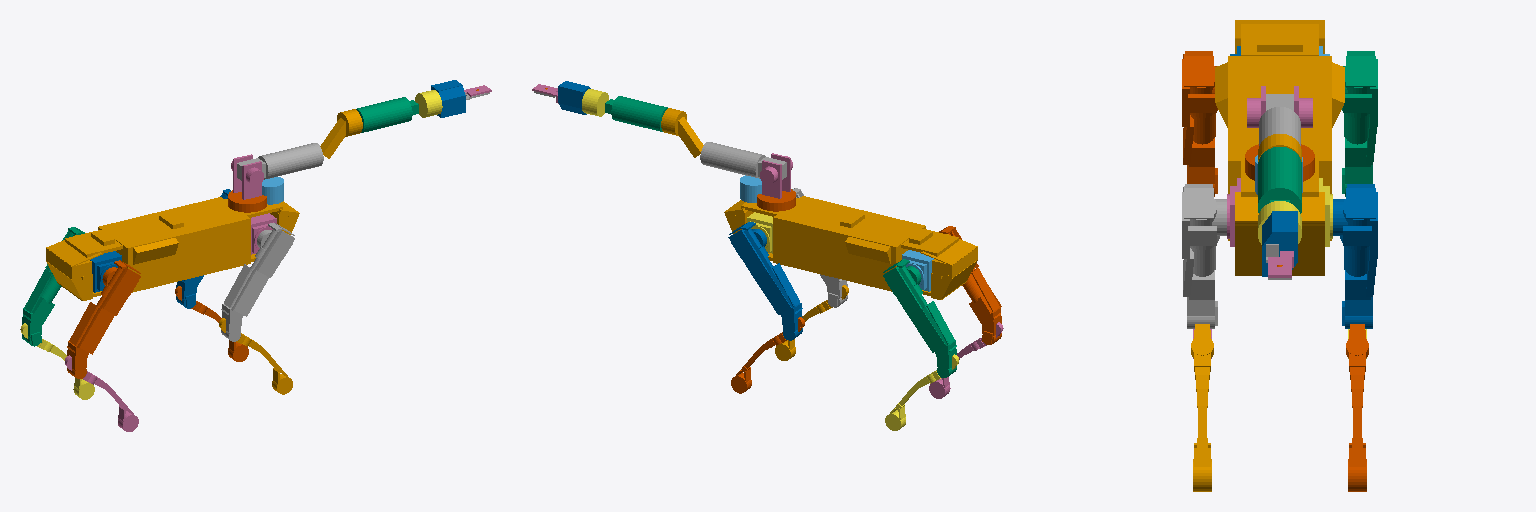
--- Facts derived from the render (not from the file) ---
The picture shows the robot from 3 angles, left to right: view 1: azimuth 30°, elevation 25°; view 2: azimuth 150°, elevation 25°; view 3: azimuth 270°, elevation 25°; orthographic projection.
Robot: Spot — 78 links, 77 joints (18 revolute, 4 continuous, 3 prismatic, 52 fixed); root link base_link; default pose: every joint at zero.
Visible links, largest first — view 1: base_link, front right upperarm, rear right upperarm, rear left upperarm, spotarm_link2, spotarm_link5, spotarm_link1, spotarm_link3, front, front right forearm, rear right forearm, rear left forearm (+5 smaller); view 2: base_link, front left upperarm, rear left upperarm, rear right upperarm, spotarm_link2, spotarm_link5, spotarm_link1, spotarm_link3, rear left forearm, front left forearm, front, rear right forearm (+5 smaller); view 3: base_link, front right upperarm, front left upperarm, rear right upperarm, rear left upperarm, front right forearm, front left forearm, spotarm_link5, spotarm_link2, front, spotarm_link1, SpotArm (+3 smaller).
Link boxes in pixels (left/top/right/bottom): base_link: left=46, top=197, right=299, bottom=300; front right upperarm: left=221, top=223, right=294, bottom=341; rear right upperarm: left=67, top=260, right=140, bottom=378; rear left upperarm: left=22, top=227, right=84, bottom=346; spotarm_link2: left=237, top=143, right=323, bottom=180; spotarm_link5: left=356, top=97, right=418, bottom=132; spotarm_link1: left=231, top=154, right=263, bottom=199; spotarm_link3: left=320, top=109, right=362, bottom=158; front: left=431, top=80, right=465, bottom=117; front right forearm: left=219, top=318, right=292, bottom=394; rear right forearm: left=65, top=355, right=138, bottom=431; rear left forearm: left=20, top=323, right=94, bottom=399; base_link: left=724, top=196, right=977, bottom=299; front left upperarm: left=728, top=222, right=802, bottom=340; rear left upperarm: left=883, top=259, right=956, bottom=377; rear right upperarm: left=939, top=226, right=1001, bottom=344; spotarm_link2: left=700, top=142, right=786, bottom=179; spotarm_link5: left=605, top=96, right=667, bottom=131; spotarm_link1: left=760, top=153, right=792, bottom=198; spotarm_link3: left=661, top=108, right=703, bottom=157; rear left forearm: left=885, top=354, right=958, bottom=430; front left forearm: left=731, top=317, right=804, bottom=393; front: left=558, top=81, right=590, bottom=114; rear right forearm: left=929, top=322, right=1003, bottom=398; base_link: left=1215, top=20, right=1344, bottom=275; front right upperarm: left=1182, top=184, right=1226, bottom=328; front left upperarm: left=1333, top=184, right=1377, bottom=328; rear right upperarm: left=1182, top=51, right=1217, bottom=196; rear left upperarm: left=1342, top=51, right=1377, bottom=196; front right forearm: left=1191, top=324, right=1213, bottom=491; front left forearm: left=1346, top=324, right=1368, bottom=491; spotarm_link5: left=1258, top=147, right=1301, bottom=213; spotarm_link2: left=1259, top=94, right=1300, bottom=145; front: left=1262, top=211, right=1297, bottom=276; spotarm_link1: left=1247, top=86, right=1312, bottom=127; SpotArm: left=1245, top=144, right=1314, bottom=181.
Size in the robot's own frame: 1.94 by 0.42 by 1.02 metres.
Geometry: primitives only (box / cylinder / sphere), no mesh files.

The robot description file, URDF, robot "Spot":
<?xml version="1.0"?>
<robot name="Spot" xmlns:xacro="http://ros.org/wiki/xacro">
  <link name="base_link">
    <visual>
      <origin xyz="0.462094 0 -0.000232" rpy="1.127615 -0.00001 -1.570793"/>
      <geometry>
        <box size="0.192453 0.177358 0.043396"/>
      </geometry>
    </visual>
    <collision>
      <origin xyz="0.462094 0 -0.000232" rpy="1.127615 -0.00001 -1.570793"/>
      <geometry>
        <box size="0.192453 0.177358 0.043396"/>
      </geometry>
    </collision>
    <visual>
      <origin xyz="0.477932 0 0.084013" rpy="1.217205 -0.000011 -1.570792"/>
      <geometry>
        <box size="0.192453 0.018113 0.08717"/>
      </geometry>
    </visual>
    <collision>
      <origin xyz="0.477932 0 0.084013" rpy="1.217205 -0.000011 -1.570792"/>
      <geometry>
        <box size="0.192453 0.018113 0.08717"/>
      </geometry>
    </collision>
    <visual>
      <origin xyz="0.451833 0 0.041304" rpy="0 0 0"/>
      <geometry>
        <box size="0.037736 0.192453 0.102642"/>
      </geometry>
    </visual>
    <collision>
      <origin xyz="0.451833 0 0.041304" rpy="0 0 0"/>
      <geometry>
        <box size="0.037736 0.192453 0.102642"/>
      </geometry>
    </collision>
    <visual>
      <origin xyz="0.031113 0 0.018833" rpy="0 0 0"/>
      <geometry>
        <box size="0.535849 0.222642 0.189434"/>
      </geometry>
    </visual>
    <collision>
      <origin xyz="0.031113 0 0.018833" rpy="0 0 0"/>
      <geometry>
        <box size="0.535849 0.222642 0.189434"/>
      </geometry>
    </collision>
    <visual>
      <origin xyz="0.376019 0 0.107135" rpy="0 0 0"/>
      <geometry>
        <box size="0.158491 0.166038 0.013208"/>
      </geometry>
    </visual>
    <collision>
      <origin xyz="0.376019 0 0.107135" rpy="0 0 0"/>
      <geometry>
        <box size="0.158491 0.166038 0.013208"/>
      </geometry>
    </collision>
    <visual>
      <origin xyz="0.363578 0 -0.079657" rpy="1.537614 -0.00001 -1.570793"/>
      <geometry>
        <box size="0.166038 0.013208 0.124528"/>
      </geometry>
    </visual>
    <collision>
      <origin xyz="0.363578 0 -0.079657" rpy="1.537614 -0.00001 -1.570793"/>
      <geometry>
        <box size="0.166038 0.013208 0.124528"/>
      </geometry>
    </collision>
    <visual>
      <origin xyz="-0.319453 0 0.107135" rpy="0 0 0"/>
      <geometry>
        <box size="0.158491 0.166038 0.013208"/>
      </geometry>
    </visual>
    <collision>
      <origin xyz="-0.319453 0 0.107135" rpy="0 0 0"/>
      <geometry>
        <box size="0.158491 0.166038 0.013208"/>
      </geometry>
    </collision>
    <visual>
      <origin xyz="-0.313025 0 -0.064563" rpy="0 0 0"/>
      <geometry>
        <box size="0.14717 0.166038 0.013208"/>
      </geometry>
    </visual>
    <collision>
      <origin xyz="-0.313025 0 -0.064563" rpy="0 0 0"/>
      <geometry>
        <box size="0.14717 0.166038 0.013208"/>
      </geometry>
    </collision>
    <visual>
      <origin xyz="-0.120195 0.111629 0.074886" rpy="1.5708 -0.423195 -1.570794"/>
      <geometry>
        <box size="0.030189 0.064528 0.182264"/>
      </geometry>
    </visual>
    <collision>
      <origin xyz="-0.120195 0.111629 0.074886" rpy="1.5708 -0.423195 -1.570794"/>
      <geometry>
        <box size="0.030189 0.064528 0.182264"/>
      </geometry>
    </collision>
    <visual>
      <origin xyz="-0.120195 -0.111629 0.074886" rpy="1.5708 0.423174 -1.570793"/>
      <geometry>
        <box size="0.030189 0.064528 0.182264"/>
      </geometry>
    </visual>
    <collision>
      <origin xyz="-0.120195 -0.111629 0.074886" rpy="1.5708 0.423174 -1.570793"/>
      <geometry>
        <box size="0.030189 0.064528 0.182264"/>
      </geometry>
    </collision>
    <visual>
      <origin xyz="-0.427377 0 0.059588" rpy="0 0 0"/>
      <geometry>
        <box size="0.089057 0.192453 0.05283"/>
      </geometry>
    </visual>
    <collision>
      <origin xyz="-0.427377 0 0.059588" rpy="0 0 0"/>
      <geometry>
        <box size="0.089057 0.192453 0.05283"/>
      </geometry>
    </collision>
    <visual>
      <origin xyz="-0.404 0 0.096611" rpy="1.730798 -0.000011 -1.570794"/>
      <geometry>
        <box size="0.193585 0.003774 0.135849"/>
      </geometry>
    </visual>
    <collision>
      <origin xyz="-0.404 0 0.096611" rpy="1.730798 -0.000011 -1.570794"/>
      <geometry>
        <box size="0.193585 0.003774 0.135849"/>
      </geometry>
    </collision>
    <visual>
      <origin xyz="-0.400585 0 -0.018903" rpy="0 0 0"/>
      <geometry>
        <box size="0.04566 0.191698 0.103396"/>
      </geometry>
    </visual>
    <collision>
      <origin xyz="-0.400585 0 -0.018903" rpy="0 0 0"/>
      <geometry>
        <box size="0.04566 0.191698 0.103396"/>
      </geometry>
    </collision>
    <visual>
      <origin xyz="-0.431528 0 -0.008337" rpy="2.0308 -0.00001 -1.570793"/>
      <geometry>
        <box size="0.193585 0.109434 0.037736"/>
      </geometry>
    </visual>
    <collision>
      <origin xyz="-0.431528 0 -0.008337" rpy="2.0308 -0.00001 -1.570793"/>
      <geometry>
        <box size="0.193585 0.109434 0.037736"/>
      </geometry>
    </collision>
    <visual>
      <origin xyz="-0.28 0 0.121" rpy="0 0 0"/>
      <geometry>
        <box size="0.05 0.1 0.02"/>
      </geometry>
    </visual>
    <collision>
      <origin xyz="-0.28 0 0.121" rpy="0 0 0"/>
      <geometry>
        <box size="0.05 0.1 0.02"/>
      </geometry>
    </collision>
    <visual>
      <origin xyz="0.02 0 0.121" rpy="0 0 0"/>
      <geometry>
        <box size="0.05 0.1 0.02"/>
      </geometry>
    </visual>
    <collision>
      <origin xyz="0.02 0 0.121" rpy="0 0 0"/>
      <geometry>
        <box size="0.05 0.1 0.02"/>
      </geometry>
    </collision>
  </link>
  <link name="Velodyne_Puck">
    <visual>
      <origin xyz="0 -0.00165 0" rpy="0 0 0"/>
      <geometry>
        <cylinder radius="0.052" length="0.0727"/>
      </geometry>
    </visual>
    <collision>
      <origin xyz="0 -0.00165 0" rpy="0 0 0"/>
      <geometry>
        <cylinder radius="0.052" length="0.0727"/>
      </geometry>
    </collision>
  </link>
  <joint name="base_link_Velodyne_Puck_joint" type="fixed">
    <parent link="base_link"/>
    <child link="Velodyne_Puck"/>
    <origin xyz="0.45 0 0.1518" rpy="-0.000008 -0.000008 0.000001"/>
  </joint>
  <link name="solid">
  </link>
  <joint name="base_link_solid_joint" type="fixed">
    <parent link="base_link"/>
    <child link="solid"/>
    <origin xyz="0.496831 0.000001 0.104801" rpy="1.2208 -0.00001 -1.570793"/>
  </joint>
  <link name="kinect range">
  </link>
  <joint name="solid_kinect range_joint" type="fixed">
    <parent link="solid"/>
    <child link="kinect range"/>
    <origin xyz="0 0 -0.0127" rpy="-0.785397 1.570792 0.785397"/>
  </joint>
  <link name="kinect color">
  </link>
  <joint name="solid_kinect color_joint" type="fixed">
    <parent link="solid"/>
    <child link="kinect color"/>
    <origin xyz="0 0 -0.0127" rpy="-2.356193 1.570792 -0.7854"/>
  </joint>
  <link name="SpotArm">
    <visual>
      <origin xyz="0 0 0.021" rpy="0 0 0"/>
      <geometry>
        <cylinder radius="0.075" length="0.035"/>
      </geometry>
    </visual>
    <collision>
      <origin xyz="0 0 0.021" rpy="0 0 0"/>
      <geometry>
        <cylinder radius="0.075" length="0.035"/>
      </geometry>
    </collision>
  </link>
  <joint name="base_link_SpotArm_joint" type="fixed">
    <parent link="base_link"/>
    <child link="SpotArm"/>
    <origin xyz="0.35 0 0.1118" rpy="-0.000017 -0.000003 0.000005"/>
  </joint>
  <joint name="spotarm_1_joint" type="revolute">
    <parent link="SpotArm"/>
    <child link="spotarm_link1"/>
    <axis xyz="0 0 1"/>
    <limit effort="500" lower="-2.61799" upper="3.14159" velocity="2.5"/>
    <origin xyz="0 0 0.04" rpy="0 0 0"/>
  </joint>
  <link name="spotarm_link1">
    <visual>
      <origin xyz="0 -0.035 0.076" rpy="3.141593 1.570793 3.141593"/>
      <geometry>
        <box size="0.14 0.01 0.08"/>
      </geometry>
    </visual>
    <collision>
      <origin xyz="0 -0.035 0.076" rpy="3.141593 1.570793 3.141593"/>
      <geometry>
        <box size="0.14 0.01 0.08"/>
      </geometry>
    </collision>
    <visual>
      <origin xyz="0 0.035 0.076" rpy="3.141593 1.570793 3.141593"/>
      <geometry>
        <box size="0.14 0.01 0.08"/>
      </geometry>
    </visual>
    <collision>
      <origin xyz="0 0.035 0.076" rpy="3.141593 1.570793 3.141593"/>
      <geometry>
        <box size="0.14 0.01 0.08"/>
      </geometry>
    </collision>
    <visual>
      <origin xyz="0 -0.0555 0.1" rpy="1.5708 0 0"/>
      <geometry>
        <cylinder radius="0.032" length="0.031"/>
      </geometry>
    </visual>
    <collision>
      <origin xyz="0 -0.0555 0.1" rpy="1.5708 0 0"/>
      <geometry>
        <cylinder radius="0.032" length="0.031"/>
      </geometry>
    </collision>
    <visual>
      <origin xyz="0 0.0555 0.1" rpy="1.5708 0 0"/>
      <geometry>
        <cylinder radius="0.032" length="0.031"/>
      </geometry>
    </visual>
    <collision>
      <origin xyz="0 0.0555 0.1" rpy="1.5708 0 0"/>
      <geometry>
        <cylinder radius="0.032" length="0.031"/>
      </geometry>
    </collision>
  </link>
  <joint name="spotarm_2_joint" type="revolute">
    <parent link="spotarm_link1"/>
    <child link="spotarm_link2"/>
    <axis xyz="0 -1 0"/>
    <limit effort="500" lower="-0.523599" upper="3.14159" velocity="2.5"/>
    <origin xyz="0 0.03 0.1" rpy="0 0 0"/>
  </joint>
  <link name="spotarm_link2">
    <visual>
      <origin xyz="0.017 -0.03 0" rpy="3.141593 1.570793 3.141593"/>
      <geometry>
        <box size="0.06 0.059 0.093"/>
      </geometry>
    </visual>
    <collision>
      <origin xyz="0.017 -0.03 0" rpy="3.141593 1.570793 3.141593"/>
      <geometry>
        <box size="0.06 0.059 0.093"/>
      </geometry>
    </collision>
    <visual>
      <origin xyz="0.185 -0.03 0" rpy="3.141593 1.570793 3.141593"/>
      <geometry>
        <cylinder radius="0.0456" length="0.24"/>
      </geometry>
    </visual>
    <collision>
      <origin xyz="0.185 -0.03 0" rpy="3.141593 1.570793 3.141593"/>
      <geometry>
        <cylinder radius="0.0456" length="0.24"/>
      </geometry>
    </collision>
  </link>
  <joint name="spotarm_3_joint" type="revolute">
    <parent link="spotarm_link2"/>
    <child link="spotarm_link3"/>
    <axis xyz="0 1 0"/>
    <limit effort="500" lower="0" upper="3.0" velocity="2.5"/>
    <origin xyz="0.3385 -0.02 0.000137" rpy="0 0 0"/>
  </joint>
  <link name="spotarm_link3">
    <visual>
      <origin xyz="0.044 -0.01 0.0514" rpy="3.141593 0.851593 3.141593"/>
      <geometry>
        <box size="0.16 0.041 0.04"/>
      </geometry>
    </visual>
    <collision>
      <origin xyz="0.044 -0.01 0.0514" rpy="3.141593 0.851593 3.141593"/>
      <geometry>
        <box size="0.16 0.041 0.04"/>
      </geometry>
    </collision>
    <visual>
      <origin xyz="0.1065 -0.01 0.0973" rpy="3.141593 1.570793 3.141593"/>
      <geometry>
        <cylinder radius="0.0477" length="0.059"/>
      </geometry>
    </visual>
    <collision>
      <origin xyz="0.1065 -0.01 0.0973" rpy="3.141593 1.570793 3.141593"/>
      <geometry>
        <cylinder radius="0.0477" length="0.059"/>
      </geometry>
    </collision>
  </link>
  <joint name="spotarm_4_joint" type="revolute">
    <parent link="spotarm_link3"/>
    <child link="spotarm_link4"/>
    <axis xyz="1 0 0"/>
    <limit effort="500" lower="-4.3633" upper="1.22173" velocity="2.5"/>
    <origin xyz="0.107 -0.01 0.09734" rpy="0 0 0"/>
  </joint>
  <link name="spotarm_link4">
  </link>
  <joint name="Slider11" type="prismatic">
    <parent link="spotarm_link4"/>
    <child link="spotarm_link5"/>
    <axis xyz="1 0 0"/>
    <origin xyz="0.035 0 0" rpy="0 0 0"/>
    <limit effort="100" lower="0" upper="0.075" velocity="100"/>
  </joint>
  <link name="spotarm_link5">
    <visual>
      <origin xyz="0.232 0 0" rpy="3.141593 1.570793 3.141593"/>
      <geometry>
        <box size="0.04 0.044 0.042"/>
      </geometry>
    </visual>
    <collision>
      <origin xyz="0.232 0 0" rpy="3.141593 1.570793 3.141593"/>
      <geometry>
        <box size="0.04 0.044 0.042"/>
      </geometry>
    </collision>
    <visual>
      <origin xyz="0.106 0 0" rpy="3.141593 1.570793 3.141593"/>
      <geometry>
        <cylinder radius="0.0477" length="0.21"/>
      </geometry>
    </visual>
    <collision>
      <origin xyz="0.106 0 0" rpy="3.141593 1.570793 3.141593"/>
      <geometry>
        <cylinder radius="0.0477" length="0.21"/>
      </geometry>
    </collision>
  </link>
  <joint name="spotarm_5_joint" type="revolute">
    <parent link="spotarm_link5"/>
    <child link="spotarm_link6"/>
    <axis xyz="0 1 0"/>
    <limit effort="500" lower="-1.0472" upper="1.0472" velocity="2.5"/>
    <origin xyz="0.2413 0.01 0" rpy="0 0 0"/>
  </joint>
  <link name="spotarm_link6">
    <visual>
      <origin xyz="0.0671 -0.0105 0" rpy="3.141593 1.570793 3.141593"/>
      <geometry>
        <cylinder radius="0.0477" length="0.065"/>
      </geometry>
    </visual>
    <collision>
      <origin xyz="0.0671 -0.0105 0" rpy="3.141593 1.570793 3.141593"/>
      <geometry>
        <cylinder radius="0.0477" length="0.065"/>
      </geometry>
    </collision>
  </link>
  <joint name="spotarm_6_joint" type="revolute">
    <parent link="spotarm_link6"/>
    <child link="front"/>
    <axis xyz="0.000004 0 1"/>
    <limit effort="500" lower="-4.45059" upper="1.30899" velocity="2.5"/>
    <origin xyz="0.1 -0.0105 0" rpy="3.141593 -1.570793 3.141593"/>
  </joint>
  <link name="front">
    <visual>
      <origin xyz="0 0.0005 -0.007" rpy="0 0 0"/>
      <geometry>
        <cylinder radius="0.0227" length="0.028"/>
      </geometry>
    </visual>
    <collision>
      <origin xyz="0 0.0005 -0.007" rpy="0 0 0"/>
      <geometry>
        <cylinder radius="0.0227" length="0.028"/>
      </geometry>
    </collision>
    <visual>
      <origin xyz="0.029 -0.01784 -0.053" rpy="0 0 0.59"/>
      <geometry>
        <box size="0.04 0.0217 0.105"/>
      </geometry>
    </visual>
    <collision>
      <origin xyz="0.029 -0.01784 -0.053" rpy="0 0 0.59"/>
      <geometry>
        <box size="0.04 0.0217 0.105"/>
      </geometry>
    </collision>
    <visual>
      <origin xyz="-0.029 0.01884 -0.053" rpy="0 0 0.59"/>
      <geometry>
        <box size="0.04 0.0217 0.105"/>
      </geometry>
    </visual>
    <collision>
      <origin xyz="-0.029 0.01884 -0.053" rpy="0 0 0.59"/>
      <geometry>
        <box size="0.04 0.0217 0.105"/>
      </geometry>
    </collision>
    <visual>
      <origin xyz="0.0172 0.0114 -0.053" rpy="3.141593 -1.570793 3.141593"/>
      <geometry>
        <box size="0.106 0.056 0.071"/>
      </geometry>
    </visual>
    <collision>
      <origin xyz="0.0172 0.0114 -0.053" rpy="3.141593 -1.570793 3.141593"/>
      <geometry>
        <box size="0.106 0.056 0.071"/>
      </geometry>
    </collision>
    <visual>
      <origin xyz="-0.0172 -0.0104 -0.053" rpy="3.141593 -1.570793 3.141593"/>
      <geometry>
        <box size="0.106 0.056 0.071"/>
      </geometry>
    </visual>
    <collision>
      <origin xyz="-0.0172 -0.0104 -0.053" rpy="3.141593 -1.570793 3.141593"/>
      <geometry>
        <box size="0.106 0.056 0.071"/>
      </geometry>
    </collision>
  </link>
  <link name="gripper_centre">
    <visual>
      <origin xyz="0 0 0" rpy="0 0 0"/>
      <geometry>
        <sphere radius="0.01"/>
      </geometry>
    </visual>
  </link>
  <joint name="gripper_centre_joint" type="fixed">
    <parent link="front"/>
    <child link="gripper_centre"/>
    <origin xyz="0 0 -0.18" rpy="0 0 0"/>
  </joint>
  <joint name="gripper_right_finger_joint" type="prismatic">
    <parent link="front"/>
    <child link="gripper_right_finger_link"/>
    <axis xyz="1 0 0"/>
    <origin xyz="0 0.0005 -0.007" rpy="0 0 0"/>
    <limit effort="16" lower="0" upper="0.045" velocity="0.05"/>
  </joint>
  <link name="gripper_right_finger_link">
    <visual>
      <origin xyz="0.004 0 -0.1741" rpy="0 0 0"/>
      <geometry>
        <box size="0.0076 0.05091 0.08982"/>
      </geometry>
    </visual>
    <collision>
      <origin xyz="0.004 0 -0.1741" rpy="0 0 0"/>
      <geometry>
        <box size="0.0076 0.05091 0.08982"/>
      </geometry>
    </collision>
    <visual>
      <origin xyz="0.0049 0.0153 -0.1208" rpy="0 0 0"/>
      <geometry>
        <box size="0.0055 0.0295 0.018"/>
      </geometry>
    </visual>
    <collision>
      <origin xyz="0.0049 0.0153 -0.1208" rpy="0 0 0"/>
      <geometry>
        <box size="0.0055 0.0295 0.018"/>
      </geometry>
    </collision>
    <visual>
      <origin xyz="-0.0085 0.0156 -0.1048" rpy="0 0 0"/>
      <geometry>
        <box size="0.03213 0.02959 0.01487"/>
      </geometry>
    </visual>
    <collision>
      <origin xyz="-0.0085 0.0156 -0.1048" rpy="0 0 0"/>
      <geometry>
        <box size="0.03213 0.02959 0.01487"/>
      </geometry>
    </collision>
  </link>
  <joint name="gripper_left_finger_joint" type="prismatic">
    <parent link="front"/>
    <child link="gripper_left_finger_link"/>
    <axis xyz="1 0.000093 0"/>
    <origin xyz="0 0 0" rpy="0 0 3.1415"/>
    <limit effort="16" lower="0" upper="0.045" velocity="0.05"/>
  </joint>
  <link name="gripper_left_finger_link">
    <visual>
      <origin xyz="0.004 0 -0.1741" rpy="0 0 0"/>
      <geometry>
        <box size="0.0076 0.05091 0.08982"/>
      </geometry>
    </visual>
    <collision>
      <origin xyz="0.004 0 -0.1741" rpy="0 0 0"/>
      <geometry>
        <box size="0.0076 0.05091 0.08982"/>
      </geometry>
    </collision>
    <visual>
      <origin xyz="0.0049 0.0153 -0.1208" rpy="0 0 0"/>
      <geometry>
        <box size="0.0055 0.0295 0.018"/>
      </geometry>
    </visual>
    <collision>
      <origin xyz="0.0049 0.0153 -0.1208" rpy="0 0 0"/>
      <geometry>
        <box size="0.0055 0.0295 0.018"/>
      </geometry>
    </collision>
    <visual>
      <origin xyz="-0.0085 0.0156 -0.1048" rpy="0 0 0"/>
      <geometry>
        <box size="0.03213 0.02959 0.01487"/>
      </geometry>
    </visual>
    <collision>
      <origin xyz="-0.0085 0.0156 -0.1048" rpy="0 0 0"/>
      <geometry>
        <box size="0.03213 0.02959 0.01487"/>
      </geometry>
    </collision>
  </link>
  <link name="cap screw(19)">
  </link>
  <joint name="front_cap screw(19)_joint" type="fixed">
    <parent link="front"/>
    <child link="cap screw(19)"/>
    <origin xyz="0.0415 -0.0029 -0.0004" rpy="3.14159 0 0"/>
  </joint>
  <link name="cap screw(18)">
  </link>
  <joint name="front_cap screw(18)_joint" type="fixed">
    <parent link="front"/>
    <child link="cap screw(18)"/>
    <origin xyz="-0.0415 0.0029 -0.0004" rpy="3.14159 0 0"/>
  </joint>
  <link name="cap screw(17)">
  </link>
  <joint name="front_cap screw(17)_joint" type="fixed">
    <parent link="front"/>
    <child link="cap screw(17)"/>
    <origin xyz="0.0433 0.0315 0.0026" rpy="3.14159 0 0"/>
  </joint>
  <link name="cap screw(16)">
  </link>
  <joint name="front_cap screw(16)_joint" type="fixed">
    <parent link="front"/>
    <child link="cap screw(16)"/>
    <origin xyz="-0.0433 -0.0315 0.0026" rpy="3.14159 0 0"/>
  </joint>
  <link name="cap screw(15)">
  </link>
  <joint name="front_cap screw(15)_joint" type="fixed">
    <parent link="front"/>
    <child link="cap screw(15)"/>
    <origin xyz="0 0.033 0.0026" rpy="3.14159 0 0"/>
  </joint>
  <link name="cap screw(14)">
  </link>
  <joint name="front_cap screw(14)_joint" type="fixed">
    <parent link="front"/>
    <child link="cap screw(14)"/>
    <origin xyz="0 -0.033 0.0026" rpy="3.14159 0 0"/>
  </joint>
  <link name="cap screw(13)">
  </link>
  <joint name="front_cap screw(13)_joint" type="fixed">
    <parent link="front"/>
    <child link="cap screw(13)"/>
    <origin xyz="0.0426 -0.0094 -0.09448" rpy="0 0 0"/>
  </joint>
  <link name="cap screw(12)">
  </link>
  <joint name="front_cap screw(12)_joint" type="fixed">
    <parent link="front"/>
    <child link="cap screw(12)"/>
    <origin xyz="-0.0425 0.0094 -0.0945" rpy="0 0 0"/>
  </joint>
  <link name="cap screw(11)">
  </link>
  <joint name="front_cap screw(11)_joint" type="fixed">
    <parent link="front"/>
    <child link="cap screw(11)"/>
    <origin xyz="-0.0477 -0.008 -0.0108" rpy="3.141593 1.570793 3.141593"/>
  </joint>
  <link name="cap screw(10)">
  </link>
  <joint name="front_cap screw(10)_joint" type="fixed">
    <parent link="front"/>
    <child link="cap screw(10)"/>
    <origin xyz="-0.0477 -0.008 -0.043" rpy="3.141593 1.570793 3.141593"/>
  </joint>
  <link name="cap screw(9)">
  </link>
  <joint name="front_cap screw(9)_joint" type="fixed">
    <parent link="front"/>
    <child link="cap screw(9)"/>
    <origin xyz="-0.0477 -0.008 -0.075" rpy="3.141593 1.570793 3.141593"/>
  </joint>
  <link name="cap screw(8)">
  </link>
  <joint name="front_cap screw(8)_joint" type="fixed">
    <parent link="front"/>
    <child link="cap screw(8)"/>
    <origin xyz="-0.0477 0.008 -0.075" rpy="3.141593 1.570793 3.141593"/>
  </joint>
  <link name="cap screw(7)">
  </link>
  <joint name="front_cap screw(7)_joint" type="fixed">
    <parent link="front"/>
    <child link="cap screw(7)"/>
    <origin xyz="-0.0477 0.008 -0.043" rpy="3.141593 1.570793 3.141593"/>
  </joint>
  <link name="cap screw(6)">
  </link>
  <joint name="front_cap screw(6)_joint" type="fixed">
    <parent link="front"/>
    <child link="cap screw(6)"/>
    <origin xyz="-0.0477 0.008 -0.0108" rpy="3.141593 1.570793 3.141593"/>
  </joint>
  <link name="cap screw(5)">
  </link>
  <joint name="front_cap screw(5)_joint" type="fixed">
    <parent link="front"/>
    <child link="cap screw(5)"/>
    <origin xyz="0.0477 -0.008 -0.0108" rpy="3.141593 -1.570793 3.141593"/>
  </joint>
  <link name="cap screw(4)">
  </link>
  <joint name="front_cap screw(4)_joint" type="fixed">
    <parent link="front"/>
    <child link="cap screw(4)"/>
    <origin xyz="0.0477 -0.008 -0.043" rpy="3.141593 -1.570793 3.141593"/>
  </joint>
  <link name="cap screw(3)">
  </link>
  <joint name="front_cap screw(3)_joint" type="fixed">
    <parent link="front"/>
    <child link="cap screw(3)"/>
    <origin xyz="0.0477 -0.008 -0.075" rpy="3.141593 -1.570793 3.141593"/>
  </joint>
  <link name="cap screw(2)">
  </link>
  <joint name="front_cap screw(2)_joint" type="fixed">
    <parent link="front"/>
    <child link="cap screw(2)"/>
    <origin xyz="0.0477 0.008 -0.075" rpy="3.141593 -1.570793 3.141593"/>
  </joint>
  <link name="cap screw(1)">
  </link>
  <joint name="front_cap screw(1)_joint" type="fixed">
    <parent link="front"/>
    <child link="cap screw(1)"/>
    <origin xyz="0.0477 0.008 -0.043" rpy="3.141593 -1.570793 3.141593"/>
  </joint>
  <link name="cap screw">
  </link>
  <joint name="front_cap screw_joint" type="fixed">
    <parent link="front"/>
    <child link="cap screw"/>
    <origin xyz="0.0477 0.008 -0.0108" rpy="3.141593 -1.570793 3.141593"/>
  </joint>
  <joint name="rear right shoulder abduction motor" type="revolute">
    <parent link="base_link"/>
    <child link="rear right shoulder"/>
    <axis xyz="0 0 1"/>
    <limit effort="50" lower="-0.6" upper="0.5" velocity="10"/>
    <origin xyz="-0.3084 -0.0528 0.012301" rpy="1.5708 -0.00001 -1.570793"/>
  </joint>
  <link name="rear right shoulder">
    <visual>
      <origin xyz="-0.004874 0.000873 -0.000643" rpy="0 0 0"/>
      <geometry>
        <box size="0.086792 0.124528 0.120755"/>
      </geometry>
    </visual>
    <collision>
      <origin xyz="-0.004874 0.000873 -0.000643" rpy="0 0 0"/>
      <geometry>
        <box size="0.086792 0.124528 0.120755"/>
      </geometry>
    </collision>
    <visual>
      <origin xyz="0.006447 0.000873 -0.000643" rpy="0 0 0"/>
      <geometry>
        <box size="0.098113 0.098113 0.098113"/>
      </geometry>
    </visual>
    <collision>
      <origin xyz="0.006447 0.000873 -0.000643" rpy="0 0 0"/>
      <geometry>
        <box size="0.098113 0.098113 0.098113"/>
      </geometry>
    </collision>
    <visual>
      <origin xyz="0.058145 0.000873 -0.000643" rpy="-1.5708 0 1.5708"/>
      <geometry>
        <cylinder radius="0.047925" length="0.006038"/>
      </geometry>
    </visual>
    <collision>
      <origin xyz="0.058145 0.000873 -0.000643" rpy="-1.5708 0 1.5708"/>
      <geometry>
        <cylinder radius="0.047925" length="0.006038"/>
      </geometry>
    </collision>
  </link>
  <joint name="rear right shoulder rotation motor" type="revolute">
    <parent link="rear right shoulder"/>
    <child link="rear right upperarm"/>
    <axis xyz="1 0 0"/>
    <limit effort="50" lower="-1.7" upper="1.7" velocity="10"/>
    <origin xyz="0 -0.00053 0" rpy="0 0 0"/>
  </joint>
  <link name="rear right upperarm">
    <visual>
      <origin xyz="0.117011 -0.32073 0.1829" rpy="-1.5708 0 1.5708"/>
      <geometry>
        <cylinder radius="0.02717" length="0.060377"/>
      </geometry>
    </visual>
    <collision>
      <origin xyz="0.117011 -0.32073 0.1829" rpy="-1.5708 0 1.5708"/>
      <geometry>
        <cylinder radius="0.02717" length="0.060377"/>
      </geometry>
    </collision>
    <visual>
      <origin xyz="0.117011 -0.25867 0.180358" rpy="0 0.05 1.570795"/>
      <geometry>
        <box size="0.09434 0.060377 0.053208"/>
      </geometry>
    </visual>
    <collision>
      <origin xyz="0.117011 -0.25867 0.180358" rpy="0 0.05 1.570795"/>
      <geometry>
        <box size="0.09434 0.060377 0.053208"/>
      </geometry>
    </collision>
    <visual>
      <origin xyz="0.149087 -0.023654 0.007772" rpy="-0.656375 0 0"/>
      <geometry>
        <box size="0.016226 0.177358 0.071698"/>
      </geometry>
    </visual>
    <collision>
      <origin xyz="0.149087 -0.023654 0.007772" rpy="-0.656375 0 0"/>
      <geometry>
        <box size="0.016226 0.177358 0.071698"/>
      </geometry>
    </collision>
    <visual>
      <origin xyz="0.14944 -0.001095 0.048195" rpy="-0.688653 0.282831 -0.225783"/>
      <geometry>
        <box size="0.004528 0.173585 0.015094"/>
      </geometry>
    </visual>
    <collision>
      <origin xyz="0.14944 -0.001095 0.048195" rpy="-0.688653 0.282831 -0.225783"/>
      <geometry>
        <box size="0.004528 0.173585 0.015094"/>
      </geometry>
    </collision>
    <visual>
      <origin xyz="0.143963 -0.142325 0.149419" rpy="-0.689784 0.390399 -0.237371"/>
      <geometry>
        <box size="0.004528 0.173585 0.015094"/>
      </geometry>
    </visual>
    <collision>
      <origin xyz="0.143963 -0.142325 0.149419" rpy="-0.689784 0.390399 -0.237371"/>
      <geometry>
        <box size="0.004528 0.173585 0.015094"/>
      </geometry>
    </collision>
    <visual>
      <origin xyz="0.143376 -0.16295 0.113632" rpy="-0.64577 0.030504 0.039623"/>
      <geometry>
        <box size="0.016226 0.173585 0.071698"/>
      </geometry>
    </visual>
    <collision>
      <origin xyz="0.143376 -0.16295 0.113632" rpy="-0.64577 0.030504 0.039623"/>
      <geometry>
        <box size="0.016226 0.173585 0.071698"/>
      </geometry>
    </collision>
    <visual>
      <origin xyz="0.113992 -0.21476 0.154045" rpy="-0.656375 0 0"/>
      <geometry>
        <box size="0.054717 0.098113 0.064151"/>
      </geometry>
    </visual>
    <collision>
      <origin xyz="0.113992 -0.21476 0.154045" rpy="-0.656375 0 0"/>
      <geometry>
        <box size="0.054717 0.098113 0.064151"/>
      </geometry>
    </collision>
    <visual>
      <origin xyz="0.113238 -0.119427 0.086296" rpy="-2.227175 0 0"/>
      <geometry>
        <cylinder radius="0.028679" length="0.150943"/>
      </geometry>
    </visual>
    <collision>
      <origin xyz="0.113238 -0.119427 0.086296" rpy="-2.227175 0 0"/>
      <geometry>
        <cylinder radius="0.028679" length="0.150943"/>
      </geometry>
    </collision>
    <visual>
      <origin xyz="0.113238 -0.04459 0.028636" rpy="-2.227175 0 0"/>
      <geometry>
        <cylinder radius="0.037736" length="0.041509"/>
      </geometry>
    </visual>
    <collision>
      <origin xyz="0.113238 -0.04459 0.028636" rpy="-2.227175 0 0"/>
      <geometry>
        <cylinder radius="0.037736" length="0.041509"/>
      </geometry>
    </collision>
    <visual>
      <origin xyz="0.113738 -0.02284 -0.046726" rpy="-0.656375 0 0"/>
      <geometry>
        <box size="0.061509 0.069811 0.011321"/>
      </geometry>
    </visual>
    <collision>
      <origin xyz="0.113738 -0.02284 -0.046726" rpy="-0.656375 0 0"/>
      <geometry>
        <box size="0.061509 0.069811 0.011321"/>
      </geometry>
    </collision>
    <visual>
      <origin xyz="0.073615 -0.00019 -0.000689" rpy="-1.5708 0 1.5708"/>
      <geometry>
        <cylinder radius="0.04" length="0.037736"/>
      </geometry>
    </visual>
    <collision>
      <origin xyz="0.073615 -0.00019 -0.000689" rpy="-1.5708 0 1.5708"/>
      <geometry>
        <cylinder radius="0.04" length="0.037736"/>
      </geometry>
    </collision>
    <visual>
      <origin xyz="0.115879 0.008331 -0.011344" rpy="-2.227175 0 0"/>
      <geometry>
        <cylinder radius="0.033962" length="0.086792"/>
      </geometry>
    </visual>
    <collision>
      <origin xyz="0.115879 0.008331 -0.011344" rpy="-2.227175 0 0"/>
      <geometry>
        <cylinder radius="0.033962" length="0.086792"/>
      </geometry>
    </collision>
    <visual>
      <origin xyz="0.12154 0.053961 -0.047932" rpy="-0.656375 0 0"/>
      <geometry>
        <box size="0.064151 0.003774 0.071698"/>
      </geometry>
    </visual>
    <collision>
      <origin xyz="0.12154 0.053961 -0.047932" rpy="-0.656375 0 0"/>
      <geometry>
        <box size="0.064151 0.003774 0.071698"/>
      </geometry>
    </collision>
    <visual>
      <origin xyz="0.12003 0.073308 -0.006499" rpy="0.013625 0 0"/>
      <geometry>
        <box size="0.060377 0.007547 0.022642"/>
      </geometry>
    </visual>
    <collision>
      <origin xyz="0.12003 0.073308 -0.006499" rpy="0.013625 0 0"/>
      <geometry>
        <box size="0.060377 0.007547 0.022642"/>
      </geometry>
    </collision>
    <visual>
      <origin xyz="0.117011 -0.13635 0.154336" rpy="0.99 0 0"/>
      <geometry>
        <box size="0.049057 0.005283 0.169811"/>
      </geometry>
    </visual>
    <collision>
      <origin xyz="0.117011 -0.13635 0.154336" rpy="0.99 0 0"/>
      <geometry>
        <box size="0.049057 0.005283 0.169811"/>
      </geometry>
    </collision>
    <visual>
      <origin xyz="0.083111 -0.31378 0.182934" rpy="0 -0.076371 1.570798"/>
      <geometry>
        <box size="0.044 0.008 0.0387"/>
      </geometry>
    </visual>
    <collision>
      <origin xyz="0.083111 -0.31378 0.182934" rpy="0 -0.076371 1.570798"/>
      <geometry>
        <box size="0.044 0.008 0.0387"/>
      </geometry>
    </collision>
  </link>
  <joint name="rear right elbow motor" type="revolute">
    <parent link="rear right upperarm"/>
    <child link="rear right forearm"/>
    <axis xyz="1 0 0"/>
    <limit effort="50" lower="-0.45" upper="1.6" velocity="10"/>
    <origin xyz="0.1122 -0.319729 0.182338" rpy="0 0 0"/>
  </joint>
  <link name="rear right forearm">
    <visual>
      <origin xyz="0.001038 -0.271321 -0.225038" rpy="-1.5708 0 1.570801"/>
      <geometry>
        <cylinder radius="0.035094" length="0.039623"/>
      </geometry>
    </visual>
    <collision>
      <origin xyz="0.001038 -0.271321 -0.225038" rpy="-1.5708 0 1.570801"/>
      <geometry>
        <cylinder radius="0.035094" length="0.039623"/>
      </geometry>
    </collision>
    <visual>
      <origin xyz="0.001038 -0.227421 -0.230239" rpy="-0.947675 0 0"/>
      <geometry>
        <box size="0.037736 0.006038 0.041509"/>
      </geometry>
    </visual>
    <collision>
      <origin xyz="0.001038 -0.227421 -0.230239" rpy="-0.947675 0 0"/>
      <geometry>
        <box size="0.037736 0.006038 0.041509"/>
      </geometry>
    </collision>
    <visual>
      <origin xyz="0.001038 -0.232272 -0.198255" rpy="-0.093185 0 0"/>
      <geometry>
        <box size="0.037736 0.045283 0.006792"/>
      </geometry>
    </visual>
    <collision>
      <origin xyz="0.001038 -0.232272 -0.198255" rpy="-0.093185 0 0"/>
      <geometry>
        <box size="0.037736 0.045283 0.006792"/>
      </geometry>
    </collision>
    <visual>
      <origin xyz="0.001038 -0.205751 -0.206348" rpy="0.616815 0 0"/>
      <geometry>
        <box size="0.025283 0.022642 0.020755"/>
      </geometry>
    </visual>
    <collision>
      <origin xyz="0.001038 -0.205751 -0.206348" rpy="0.616815 0 0"/>
      <geometry>
        <box size="0.025283 0.022642 0.020755"/>
      </geometry>
    </collision>
    <visual>
      <origin xyz="0.001038 -0.168611 -0.18111" rpy="-2.513185 0 0"/>
      <geometry>
        <box size="0.019245 0.071698 0.017358"/>
      </geometry>
    </visual>
    <collision>
      <origin xyz="0.001038 -0.168611 -0.18111" rpy="-2.513185 0 0"/>
      <geometry>
        <box size="0.019245 0.071698 0.017358"/>
      </geometry>
    </collision>
    <visual>
      <origin xyz="0.001038 -0.125111 -0.148236" rpy="0.663625 0 0"/>
      <geometry>
        <box size="0.021887 0.037736 0.018491"/>
      </geometry>
    </visual>
    <collision>
      <origin xyz="0.001038 -0.125111 -0.148236" rpy="0.663625 0 0"/>
      <geometry>
        <box size="0.021887 0.037736 0.018491"/>
      </geometry>
    </collision>
    <visual>
      <origin xyz="0.001038 -0.100861 -0.126163" rpy="0.760415 0 0"/>
      <geometry>
        <box size="0.026415 0.030189 0.021132"/>
      </geometry>
    </visual>
    <collision>
      <origin xyz="0.001038 -0.100861 -0.126163" rpy="0.760415 0 0"/>
      <geometry>
        <box size="0.026415 0.030189 0.021132"/>
      </geometry>
    </collision>
    <visual>
      <origin xyz="0.001038 -0.084241 -0.106843" rpy="0.867225 0 0"/>
      <geometry>
        <box size="0.032453 0.022642 0.024528"/>
      </geometry>
    </visual>
    <collision>
      <origin xyz="0.001038 -0.084241 -0.106843" rpy="0.867225 0 0"/>
      <geometry>
        <box size="0.032453 0.022642 0.024528"/>
      </geometry>
    </collision>
    <visual>
      <origin xyz="0.001038 -0.068551 -0.08661" rpy="0.907225 0 0"/>
      <geometry>
        <box size="0.037736 0.033962 0.026415"/>
      </geometry>
    </visual>
    <collision>
      <origin xyz="0.001038 -0.068551 -0.08661" rpy="0.907225 0 0"/>
      <geometry>
        <box size="0.037736 0.033962 0.026415"/>
      </geometry>
    </collision>
    <visual>
      <origin xyz="0.001038 -0.049721 -0.059227" rpy="0.933245 0 0"/>
      <geometry>
        <cylinder radius="0.024528" length="0.030566"/>
      </geometry>
    </visual>
    <collision>
      <origin xyz="0.001038 -0.049721 -0.059227" rpy="0.933245 0 0"/>
      <geometry>
        <cylinder radius="0.024528" length="0.030566"/>
      </geometry>
    </collision>
    <visual>
      <origin xyz="0.001038 -0.034991 -0.038166" rpy="0.937225 0 0"/>
      <geometry>
        <box size="0.038113 0.022642 0.032075"/>
      </geometry>
    </visual>
    <collision>
      <origin xyz="0.001038 -0.034991 -0.038166" rpy="0.937225 0 0"/>
      <geometry>
        <box size="0.038113 0.022642 0.032075"/>
      </geometry>
    </collision>
    <visual>
      <origin xyz="0.001038 -0.022931 -0.021744" rpy="0.937225 0 0"/>
      <geometry>
        <box size="0.031321 0.018868 0.03283"/>
      </geometry>
    </visual>
    <collision>
      <origin xyz="0.001038 -0.022931 -0.021744" rpy="0.937225 0 0"/>
      <geometry>
        <box size="0.031321 0.018868 0.03283"/>
      </geometry>
    </collision>
    <visual>
      <origin xyz="0.001038 -0.010711 -0.006332" rpy="0.834035 0 0"/>
      <geometry>
        <box size="0.027925 0.018868 0.03283"/>
      </geometry>
    </visual>
    <collision>
      <origin xyz="0.001038 -0.010711 -0.006332" rpy="0.834035 0 0"/>
      <geometry>
        <box size="0.027925 0.018868 0.03283"/>
      </geometry>
    </collision>
    <visual>
      <origin xyz="0.001038 0.004299 0.006862" rpy="0.680845 0 0"/>
      <geometry>
        <box size="0.027547 0.018868 0.034717"/>
      </geometry>
    </visual>
    <collision>
      <origin xyz="0.001038 0.004299 0.006862" rpy="0.680845 0 0"/>
      <geometry>
        <box size="0.027547 0.018868 0.034717"/>
      </geometry>
    </collision>
    <visual>
      <origin xyz="0.001038 0.021259 0.019851" rpy="0.604465 0 0"/>
      <geometry>
        <box size="0.020377 0.026415 0.03434"/>
      </geometry>
    </visual>
    <collision>
      <origin xyz="0.001038 0.021259 0.019851" rpy="0.604465 0 0"/>
      <geometry>
        <box size="0.020377 0.026415 0.03434"/>
      </geometry>
    </collision>
    <visual>
      <origin xyz="0.001038 0.019179 -0.009531" rpy="0.494895 0 0"/>
      <geometry>
        <box size="0.010189 0.05283 0.00717"/>
      </geometry>
    </visual>
    <collision>
      <origin xyz="0.001038 0.019179 -0.009531" rpy="0.494895 0 0"/>
      <geometry>
        <box size="0.010189 0.05283 0.00717"/>
      </geometry>
    </collision>
    <visual>
      <origin xyz="0.001038 0.037459 0.024742" rpy="-1.5708 0 1.5708"/>
      <geometry>
        <cylinder radius="0.021887" length="0.019736"/>
      </geometry>
    </visual>
    <collision>
      <origin xyz="0.001038 0.037459 0.024742" rpy="-1.5708 0 1.5708"/>
      <geometry>
        <cylinder radius="0.021887" length="0.019736"/>
      </geometry>
    </collision>
  </link>
  <link name="rear right touch sensor">
  </link>
  <joint name="rear right forearm_rear right touch sensor_joint" type="fixed">
    <parent link="rear right forearm"/>
    <child link="rear right touch sensor"/>
    <origin xyz="0.001038 -0.271321 -0.225038" rpy="-1.5708 0 1.570801"/>
  </joint>
  <joint name="rear right piston motor" type="continuous">
    <parent link="rear right upperarm"/>
    <child link="solid_0"/>
    <axis xyz="1 0 0"/>
    <limit effort="10" velocity="10"/>
    <origin xyz="0.1172 -0.29077 0.2083" rpy="-0.5236 0 0"/>
  </joint>
  <link name="solid_0">
  </link>
  <joint name="rear left shoulder abduction motor" type="revolute">
    <parent link="base_link"/>
    <child link="rear left shoulder"/>
    <axis xyz="0 0 1"/>
    <limit effort="50" lower="-0.6" upper="0.5" velocity="10"/>
    <origin xyz="-0.3084 0.0528 0.012299" rpy="1.5708 -0.00001 -1.570793"/>
  </joint>
  <link name="rear left shoulder">
    <visual>
      <origin xyz="0.004874 0.000873 -0.000643" rpy="0 0 0"/>
      <geometry>
        <box size="0.086792 0.124528 0.120755"/>
      </geometry>
    </visual>
    <collision>
      <origin xyz="0.004874 0.000873 -0.000643" rpy="0 0 0"/>
      <geometry>
        <box size="0.086792 0.124528 0.120755"/>
      </geometry>
    </collision>
    <visual>
      <origin xyz="-0.006447 0.000873 -0.000643" rpy="0 0 0"/>
      <geometry>
        <box size="0.098113 0.098113 0.098113"/>
      </geometry>
    </visual>
    <collision>
      <origin xyz="-0.006447 0.000873 -0.000643" rpy="0 0 0"/>
      <geometry>
        <box size="0.098113 0.098113 0.098113"/>
      </geometry>
    </collision>
    <visual>
      <origin xyz="-0.058145 0.000873 -0.000643" rpy="-1.5708 0 1.5708"/>
      <geometry>
        <cylinder radius="0.047925" length="0.006038"/>
      </geometry>
    </visual>
    <collision>
      <origin xyz="-0.058145 0.000873 -0.000643" rpy="-1.5708 0 1.5708"/>
      <geometry>
        <cylinder radius="0.047925" length="0.006038"/>
      </geometry>
    </collision>
  </link>
  <joint name="rear left shoulder rotation motor" type="revolute">
    <parent link="rear left shoulder"/>
    <child link="rear left upperarm"/>
    <axis xyz="1 0 0"/>
    <limit effort="50" lower="-1.7" upper="1.7" velocity="10"/>
    <origin xyz="0 -0.00053 0" rpy="0 0 0"/>
  </joint>
  <link name="rear left upperarm">
    <visual>
      <origin xyz="-0.117011 -0.32073 0.1829" rpy="-1.5708 0 1.5708"/>
      <geometry>
        <cylinder radius="0.02717" length="0.060377"/>
      </geometry>
    </visual>
    <collision>
      <origin xyz="-0.117011 -0.32073 0.1829" rpy="-1.5708 0 1.5708"/>
      <geometry>
        <cylinder radius="0.02717" length="0.060377"/>
      </geometry>
    </collision>
    <visual>
      <origin xyz="-0.117011 -0.25867 0.180358" rpy="0 0.05 1.570795"/>
      <geometry>
        <box size="0.09434 0.060377 0.053208"/>
      </geometry>
    </visual>
    <collision>
      <origin xyz="-0.117011 -0.25867 0.180358" rpy="0 0.05 1.570795"/>
      <geometry>
        <box size="0.09434 0.060377 0.053208"/>
      </geometry>
    </collision>
    <visual>
      <origin xyz="-0.149087 -0.023654 0.007772" rpy="-0.656375 0 0"/>
      <geometry>
        <box size="0.016226 0.177358 0.071698"/>
      </geometry>
    </visual>
    <collision>
      <origin xyz="-0.149087 -0.023654 0.007772" rpy="-0.656375 0 0"/>
      <geometry>
        <box size="0.016226 0.177358 0.071698"/>
      </geometry>
    </collision>
    <visual>
      <origin xyz="-0.14944 -0.001095 0.048195" rpy="-0.688653 0.282831 -0.225783"/>
      <geometry>
        <box size="0.004528 0.173585 0.015094"/>
      </geometry>
    </visual>
    <collision>
      <origin xyz="-0.14944 -0.001095 0.048195" rpy="-0.688653 0.282831 -0.225783"/>
      <geometry>
        <box size="0.004528 0.173585 0.015094"/>
      </geometry>
    </collision>
    <visual>
      <origin xyz="-0.143963 -0.142325 0.149419" rpy="-0.689784 0.390399 -0.237371"/>
      <geometry>
        <box size="0.004528 0.173585 0.015094"/>
      </geometry>
    </visual>
    <collision>
      <origin xyz="-0.143963 -0.142325 0.149419" rpy="-0.689784 0.390399 -0.237371"/>
      <geometry>
        <box size="0.004528 0.173585 0.015094"/>
      </geometry>
    </collision>
    <visual>
      <origin xyz="-0.143376 -0.16295 0.113632" rpy="-0.64577 0.030504 0.039623"/>
      <geometry>
        <box size="0.016226 0.173585 0.071698"/>
      </geometry>
    </visual>
    <collision>
      <origin xyz="-0.143376 -0.16295 0.113632" rpy="-0.64577 0.030504 0.039623"/>
      <geometry>
        <box size="0.016226 0.173585 0.071698"/>
      </geometry>
    </collision>
    <visual>
      <origin xyz="-0.113992 -0.21476 0.154045" rpy="-0.656375 0 0"/>
      <geometry>
        <box size="0.054717 0.098113 0.064151"/>
      </geometry>
    </visual>
    <collision>
      <origin xyz="-0.113992 -0.21476 0.154045" rpy="-0.656375 0 0"/>
      <geometry>
        <box size="0.054717 0.098113 0.064151"/>
      </geometry>
    </collision>
    <visual>
      <origin xyz="-0.113238 -0.119427 0.086296" rpy="-2.227175 0 0"/>
      <geometry>
        <cylinder radius="0.028679" length="0.150943"/>
      </geometry>
    </visual>
    <collision>
      <origin xyz="-0.113238 -0.119427 0.086296" rpy="-2.227175 0 0"/>
      <geometry>
        <cylinder radius="0.028679" length="0.150943"/>
      </geometry>
    </collision>
    <visual>
      <origin xyz="-0.113238 -0.04459 0.028636" rpy="-2.227175 0 0"/>
      <geometry>
        <cylinder radius="0.037736" length="0.041509"/>
      </geometry>
    </visual>
    <collision>
      <origin xyz="-0.113238 -0.04459 0.028636" rpy="-2.227175 0 0"/>
      <geometry>
        <cylinder radius="0.037736" length="0.041509"/>
      </geometry>
    </collision>
    <visual>
      <origin xyz="-0.113738 -0.02284 -0.046726" rpy="-0.656375 0 0"/>
      <geometry>
        <box size="0.061509 0.069811 0.011321"/>
      </geometry>
    </visual>
    <collision>
      <origin xyz="-0.113738 -0.02284 -0.046726" rpy="-0.656375 0 0"/>
      <geometry>
        <box size="0.061509 0.069811 0.011321"/>
      </geometry>
    </collision>
    <visual>
      <origin xyz="-0.073615 -0.00019 -0.000689" rpy="-1.5708 0 1.5708"/>
      <geometry>
        <cylinder radius="0.04" length="0.037736"/>
      </geometry>
    </visual>
    <collision>
      <origin xyz="-0.073615 -0.00019 -0.000689" rpy="-1.5708 0 1.5708"/>
      <geometry>
        <cylinder radius="0.04" length="0.037736"/>
      </geometry>
    </collision>
    <visual>
      <origin xyz="-0.115879 0.008331 -0.011344" rpy="-2.227175 0 0"/>
      <geometry>
        <cylinder radius="0.033962" length="0.086792"/>
      </geometry>
    </visual>
    <collision>
      <origin xyz="-0.115879 0.008331 -0.011344" rpy="-2.227175 0 0"/>
      <geometry>
        <cylinder radius="0.033962" length="0.086792"/>
      </geometry>
    </collision>
    <visual>
      <origin xyz="-0.12154 0.053961 -0.047932" rpy="-0.656375 0 0"/>
      <geometry>
        <box size="0.064151 0.003774 0.071698"/>
      </geometry>
    </visual>
    <collision>
      <origin xyz="-0.12154 0.053961 -0.047932" rpy="-0.656375 0 0"/>
      <geometry>
        <box size="0.064151 0.003774 0.071698"/>
      </geometry>
    </collision>
    <visual>
      <origin xyz="-0.12003 0.073308 -0.006499" rpy="0.013625 0 0"/>
      <geometry>
        <box size="0.060377 0.007547 0.022642"/>
      </geometry>
    </visual>
    <collision>
      <origin xyz="-0.12003 0.073308 -0.006499" rpy="0.013625 0 0"/>
      <geometry>
        <box size="0.060377 0.007547 0.022642"/>
      </geometry>
    </collision>
    <visual>
      <origin xyz="-0.117011 -0.13635 0.154336" rpy="0.99 0 0"/>
      <geometry>
        <box size="0.049057 0.005283 0.169811"/>
      </geometry>
    </visual>
    <collision>
      <origin xyz="-0.117011 -0.13635 0.154336" rpy="0.99 0 0"/>
      <geometry>
        <box size="0.049057 0.005283 0.169811"/>
      </geometry>
    </collision>
    <visual>
      <origin xyz="-0.083111 -0.31378 0.182934" rpy="0 -0.076371 1.570798"/>
      <geometry>
        <box size="0.044 0.008 0.0387"/>
      </geometry>
    </visual>
    <collision>
      <origin xyz="-0.083111 -0.31378 0.182934" rpy="0 -0.076371 1.570798"/>
      <geometry>
        <box size="0.044 0.008 0.0387"/>
      </geometry>
    </collision>
  </link>
  <joint name="rear left elbow motor" type="revolute">
    <parent link="rear left upperarm"/>
    <child link="rear left forearm"/>
    <axis xyz="1 0 0"/>
    <limit effort="50" lower="-0.45" upper="1.6" velocity="10"/>
    <origin xyz="-0.1122 -0.319729 0.182338" rpy="0 0 0"/>
  </joint>
  <link name="rear left forearm">
    <visual>
      <origin xyz="-0.001038 -0.271321 -0.225038" rpy="-1.5708 0 1.570801"/>
      <geometry>
        <cylinder radius="0.035094" length="0.039623"/>
      </geometry>
    </visual>
    <collision>
      <origin xyz="-0.001038 -0.271321 -0.225038" rpy="-1.5708 0 1.570801"/>
      <geometry>
        <cylinder radius="0.035094" length="0.039623"/>
      </geometry>
    </collision>
    <visual>
      <origin xyz="-0.001038 -0.227421 -0.230239" rpy="-0.947675 0 0"/>
      <geometry>
        <box size="0.037736 0.006038 0.041509"/>
      </geometry>
    </visual>
    <collision>
      <origin xyz="-0.001038 -0.227421 -0.230239" rpy="-0.947675 0 0"/>
      <geometry>
        <box size="0.037736 0.006038 0.041509"/>
      </geometry>
    </collision>
    <visual>
      <origin xyz="-0.001038 -0.232272 -0.198255" rpy="-0.093185 0 0"/>
      <geometry>
        <box size="0.037736 0.045283 0.006792"/>
      </geometry>
    </visual>
    <collision>
      <origin xyz="-0.001038 -0.232272 -0.198255" rpy="-0.093185 0 0"/>
      <geometry>
        <box size="0.037736 0.045283 0.006792"/>
      </geometry>
    </collision>
    <visual>
      <origin xyz="-0.001038 -0.205751 -0.206348" rpy="0.616815 0 0"/>
      <geometry>
        <box size="0.025283 0.022642 0.020755"/>
      </geometry>
    </visual>
    <collision>
      <origin xyz="-0.001038 -0.205751 -0.206348" rpy="0.616815 0 0"/>
      <geometry>
        <box size="0.025283 0.022642 0.020755"/>
      </geometry>
    </collision>
    <visual>
      <origin xyz="-0.001038 -0.168611 -0.18111" rpy="-2.513185 0 0"/>
      <geometry>
        <box size="0.019245 0.071698 0.017358"/>
      </geometry>
    </visual>
    <collision>
      <origin xyz="-0.001038 -0.168611 -0.18111" rpy="-2.513185 0 0"/>
      <geometry>
        <box size="0.019245 0.071698 0.017358"/>
      </geometry>
    </collision>
    <visual>
      <origin xyz="-0.001038 -0.125111 -0.148236" rpy="0.663625 0 0"/>
      <geometry>
        <box size="0.021887 0.037736 0.018491"/>
      </geometry>
    </visual>
    <collision>
      <origin xyz="-0.001038 -0.125111 -0.148236" rpy="0.663625 0 0"/>
      <geometry>
        <box size="0.021887 0.037736 0.018491"/>
      </geometry>
    </collision>
    <visual>
      <origin xyz="-0.001038 -0.100861 -0.126163" rpy="0.760415 0 0"/>
      <geometry>
        <box size="0.026415 0.030189 0.021132"/>
      </geometry>
    </visual>
    <collision>
      <origin xyz="-0.001038 -0.100861 -0.126163" rpy="0.760415 0 0"/>
      <geometry>
        <box size="0.026415 0.030189 0.021132"/>
      </geometry>
    </collision>
    <visual>
      <origin xyz="-0.001038 -0.084241 -0.106843" rpy="0.867225 0 0"/>
      <geometry>
        <box size="0.032453 0.022642 0.024528"/>
      </geometry>
    </visual>
    <collision>
      <origin xyz="-0.001038 -0.084241 -0.106843" rpy="0.867225 0 0"/>
      <geometry>
        <box size="0.032453 0.022642 0.024528"/>
      </geometry>
    </collision>
    <visual>
      <origin xyz="-0.001038 -0.068551 -0.08661" rpy="0.907225 0 0"/>
      <geometry>
        <box size="0.037736 0.033962 0.026415"/>
      </geometry>
    </visual>
    <collision>
      <origin xyz="-0.001038 -0.068551 -0.08661" rpy="0.907225 0 0"/>
      <geometry>
        <box size="0.037736 0.033962 0.026415"/>
      </geometry>
    </collision>
    <visual>
      <origin xyz="-0.001038 -0.049721 -0.059227" rpy="0.933245 0 0"/>
      <geometry>
        <cylinder radius="0.024528" length="0.030566"/>
      </geometry>
    </visual>
    <collision>
      <origin xyz="-0.001038 -0.049721 -0.059227" rpy="0.933245 0 0"/>
      <geometry>
        <cylinder radius="0.024528" length="0.030566"/>
      </geometry>
    </collision>
    <visual>
      <origin xyz="-0.001038 -0.034991 -0.038166" rpy="0.937225 0 0"/>
      <geometry>
        <box size="0.038113 0.022642 0.032075"/>
      </geometry>
    </visual>
    <collision>
      <origin xyz="-0.001038 -0.034991 -0.038166" rpy="0.937225 0 0"/>
      <geometry>
        <box size="0.038113 0.022642 0.032075"/>
      </geometry>
    </collision>
    <visual>
      <origin xyz="-0.001038 -0.022931 -0.021744" rpy="0.937225 0 0"/>
      <geometry>
        <box size="0.031321 0.018868 0.03283"/>
      </geometry>
    </visual>
    <collision>
      <origin xyz="-0.001038 -0.022931 -0.021744" rpy="0.937225 0 0"/>
      <geometry>
        <box size="0.031321 0.018868 0.03283"/>
      </geometry>
    </collision>
    <visual>
      <origin xyz="-0.001038 -0.010711 -0.006332" rpy="0.834035 0 0"/>
      <geometry>
        <box size="0.027925 0.018868 0.03283"/>
      </geometry>
    </visual>
    <collision>
      <origin xyz="-0.001038 -0.010711 -0.006332" rpy="0.834035 0 0"/>
      <geometry>
        <box size="0.027925 0.018868 0.03283"/>
      </geometry>
    </collision>
    <visual>
      <origin xyz="-0.001038 0.004299 0.006862" rpy="0.680845 0 0"/>
      <geometry>
        <box size="0.027547 0.018868 0.034717"/>
      </geometry>
    </visual>
    <collision>
      <origin xyz="-0.001038 0.004299 0.006862" rpy="0.680845 0 0"/>
      <geometry>
        <box size="0.027547 0.018868 0.034717"/>
      </geometry>
    </collision>
    <visual>
      <origin xyz="-0.001038 0.021259 0.019851" rpy="0.604465 0 0"/>
      <geometry>
        <box size="0.020377 0.026415 0.03434"/>
      </geometry>
    </visual>
    <collision>
      <origin xyz="-0.001038 0.021259 0.019851" rpy="0.604465 0 0"/>
      <geometry>
        <box size="0.020377 0.026415 0.03434"/>
      </geometry>
    </collision>
    <visual>
      <origin xyz="-0.001038 0.019179 -0.009531" rpy="0.494895 0 0"/>
      <geometry>
        <box size="0.010189 0.05283 0.00717"/>
      </geometry>
    </visual>
    <collision>
      <origin xyz="-0.001038 0.019179 -0.009531" rpy="0.494895 0 0"/>
      <geometry>
        <box size="0.010189 0.05283 0.00717"/>
      </geometry>
    </collision>
    <visual>
      <origin xyz="-0.001038 0.037459 0.024742" rpy="-1.5708 0 1.5708"/>
      <geometry>
        <cylinder radius="0.021887" length="0.019736"/>
      </geometry>
    </visual>
    <collision>
      <origin xyz="-0.001038 0.037459 0.024742" rpy="-1.5708 0 1.5708"/>
      <geometry>
        <cylinder radius="0.021887" length="0.019736"/>
      </geometry>
    </collision>
  </link>
  <link name="rear left touch sensor">
  </link>
  <joint name="rear left forearm_rear left touch sensor_joint" type="fixed">
    <parent link="rear left forearm"/>
    <child link="rear left touch sensor"/>
    <origin xyz="0.001038 -0.271321 -0.225038" rpy="-1.5708 0 1.570801"/>
  </joint>
  <joint name="rear left piston motor" type="continuous">
    <parent link="rear left upperarm"/>
    <child link="solid_1"/>
    <axis xyz="1 0 0"/>
    <limit effort="10" velocity="10"/>
    <origin xyz="-0.1172 -0.29077 0.2083" rpy="-0.5236 0 0"/>
  </joint>
  <link name="solid_1">
  </link>
  <joint name="front right shoulder abduction motor" type="revolute">
    <parent link="base_link"/>
    <child link="front right shoulder"/>
    <axis xyz="0 0 1"/>
    <limit effort="50" lower="-0.6" upper="0.5" velocity="10"/>
    <origin xyz="0.3635 -0.0528 0.012401" rpy="1.5708 -0.00001 -1.570793"/>
  </joint>
  <link name="front right shoulder">
    <visual>
      <origin xyz="-0.004874 0.000873 -0.000643" rpy="0 0 0"/>
      <geometry>
        <box size="0.086792 0.124528 0.120755"/>
      </geometry>
    </visual>
    <collision>
      <origin xyz="-0.004874 0.000873 -0.000643" rpy="0 0 0"/>
      <geometry>
        <box size="0.086792 0.124528 0.120755"/>
      </geometry>
    </collision>
    <visual>
      <origin xyz="0.006447 0.000873 -0.000643" rpy="0 0 0"/>
      <geometry>
        <box size="0.098113 0.098113 0.098113"/>
      </geometry>
    </visual>
    <collision>
      <origin xyz="0.006447 0.000873 -0.000643" rpy="0 0 0"/>
      <geometry>
        <box size="0.098113 0.098113 0.098113"/>
      </geometry>
    </collision>
    <visual>
      <origin xyz="0.058145 0.000873 -0.000643" rpy="-1.5708 0 1.5708"/>
      <geometry>
        <cylinder radius="0.047925" length="0.006038"/>
      </geometry>
    </visual>
    <collision>
      <origin xyz="0.058145 0.000873 -0.000643" rpy="-1.5708 0 1.5708"/>
      <geometry>
        <cylinder radius="0.047925" length="0.006038"/>
      </geometry>
    </collision>
  </link>
  <joint name="front right shoulder rotation motor" type="revolute">
    <parent link="front right shoulder"/>
    <child link="front right upperarm"/>
    <axis xyz="1 0 0"/>
    <limit effort="50" lower="-1.7" upper="1.7" velocity="10"/>
    <origin xyz="0 -0.00053 0" rpy="0 0 0"/>
  </joint>
  <link name="front right upperarm">
    <visual>
      <origin xyz="0.117011 -0.32073 0.1829" rpy="-1.5708 0 1.5708"/>
      <geometry>
        <cylinder radius="0.02717" length="0.060377"/>
      </geometry>
    </visual>
    <collision>
      <origin xyz="0.117011 -0.32073 0.1829" rpy="-1.5708 0 1.5708"/>
      <geometry>
        <cylinder radius="0.02717" length="0.060377"/>
      </geometry>
    </collision>
    <visual>
      <origin xyz="0.117011 -0.25867 0.180358" rpy="0 0.05 1.570795"/>
      <geometry>
        <box size="0.09434 0.060377 0.053208"/>
      </geometry>
    </visual>
    <collision>
      <origin xyz="0.117011 -0.25867 0.180358" rpy="0 0.05 1.570795"/>
      <geometry>
        <box size="0.09434 0.060377 0.053208"/>
      </geometry>
    </collision>
    <visual>
      <origin xyz="0.149087 -0.023654 0.007772" rpy="-0.656375 0 0"/>
      <geometry>
        <box size="0.016226 0.177358 0.071698"/>
      </geometry>
    </visual>
    <collision>
      <origin xyz="0.149087 -0.023654 0.007772" rpy="-0.656375 0 0"/>
      <geometry>
        <box size="0.016226 0.177358 0.071698"/>
      </geometry>
    </collision>
    <visual>
      <origin xyz="0.14944 -0.001095 0.048195" rpy="-0.688653 0.282831 -0.225783"/>
      <geometry>
        <box size="0.004528 0.173585 0.015094"/>
      </geometry>
    </visual>
    <collision>
      <origin xyz="0.14944 -0.001095 0.048195" rpy="-0.688653 0.282831 -0.225783"/>
      <geometry>
        <box size="0.004528 0.173585 0.015094"/>
      </geometry>
    </collision>
    <visual>
      <origin xyz="0.143963 -0.142325 0.149419" rpy="-0.689784 0.390399 -0.237371"/>
      <geometry>
        <box size="0.004528 0.173585 0.015094"/>
      </geometry>
    </visual>
    <collision>
      <origin xyz="0.143963 -0.142325 0.149419" rpy="-0.689784 0.390399 -0.237371"/>
      <geometry>
        <box size="0.004528 0.173585 0.015094"/>
      </geometry>
    </collision>
    <visual>
      <origin xyz="0.143376 -0.16295 0.113632" rpy="-0.64577 0.030504 0.039623"/>
      <geometry>
        <box size="0.016226 0.173585 0.071698"/>
      </geometry>
    </visual>
    <collision>
      <origin xyz="0.143376 -0.16295 0.113632" rpy="-0.64577 0.030504 0.039623"/>
      <geometry>
        <box size="0.016226 0.173585 0.071698"/>
      </geometry>
    </collision>
    <visual>
      <origin xyz="0.113992 -0.21476 0.154045" rpy="-0.656375 0 0"/>
      <geometry>
        <box size="0.054717 0.098113 0.064151"/>
      </geometry>
    </visual>
    <collision>
      <origin xyz="0.113992 -0.21476 0.154045" rpy="-0.656375 0 0"/>
      <geometry>
        <box size="0.054717 0.098113 0.064151"/>
      </geometry>
    </collision>
    <visual>
      <origin xyz="0.113238 -0.119427 0.086296" rpy="-2.227175 0 0"/>
      <geometry>
        <cylinder radius="0.028679" length="0.150943"/>
      </geometry>
    </visual>
    <collision>
      <origin xyz="0.113238 -0.119427 0.086296" rpy="-2.227175 0 0"/>
      <geometry>
        <cylinder radius="0.028679" length="0.150943"/>
      </geometry>
    </collision>
    <visual>
      <origin xyz="0.113238 -0.04459 0.028636" rpy="-2.227175 0 0"/>
      <geometry>
        <cylinder radius="0.037736" length="0.041509"/>
      </geometry>
    </visual>
    <collision>
      <origin xyz="0.113238 -0.04459 0.028636" rpy="-2.227175 0 0"/>
      <geometry>
        <cylinder radius="0.037736" length="0.041509"/>
      </geometry>
    </collision>
    <visual>
      <origin xyz="0.113738 -0.02284 -0.046726" rpy="-0.656375 0 0"/>
      <geometry>
        <box size="0.061509 0.069811 0.011321"/>
      </geometry>
    </visual>
    <collision>
      <origin xyz="0.113738 -0.02284 -0.046726" rpy="-0.656375 0 0"/>
      <geometry>
        <box size="0.061509 0.069811 0.011321"/>
      </geometry>
    </collision>
    <visual>
      <origin xyz="0.073615 -0.00019 -0.000689" rpy="-1.5708 0 1.5708"/>
      <geometry>
        <cylinder radius="0.04" length="0.037736"/>
      </geometry>
    </visual>
    <collision>
      <origin xyz="0.073615 -0.00019 -0.000689" rpy="-1.5708 0 1.5708"/>
      <geometry>
        <cylinder radius="0.04" length="0.037736"/>
      </geometry>
    </collision>
    <visual>
      <origin xyz="0.115879 0.008331 -0.011344" rpy="-2.227175 0 0"/>
      <geometry>
        <cylinder radius="0.033962" length="0.086792"/>
      </geometry>
    </visual>
    <collision>
      <origin xyz="0.115879 0.008331 -0.011344" rpy="-2.227175 0 0"/>
      <geometry>
        <cylinder radius="0.033962" length="0.086792"/>
      </geometry>
    </collision>
    <visual>
      <origin xyz="0.12154 0.053961 -0.047932" rpy="-0.656375 0 0"/>
      <geometry>
        <box size="0.064151 0.003774 0.071698"/>
      </geometry>
    </visual>
    <collision>
      <origin xyz="0.12154 0.053961 -0.047932" rpy="-0.656375 0 0"/>
      <geometry>
        <box size="0.064151 0.003774 0.071698"/>
      </geometry>
    </collision>
    <visual>
      <origin xyz="0.12003 0.073308 -0.006499" rpy="0.013625 0 0"/>
      <geometry>
        <box size="0.060377 0.007547 0.022642"/>
      </geometry>
    </visual>
    <collision>
      <origin xyz="0.12003 0.073308 -0.006499" rpy="0.013625 0 0"/>
      <geometry>
        <box size="0.060377 0.007547 0.022642"/>
      </geometry>
    </collision>
    <visual>
      <origin xyz="0.117011 -0.13635 0.154336" rpy="0.99 0 0"/>
      <geometry>
        <box size="0.049057 0.005283 0.169811"/>
      </geometry>
    </visual>
    <collision>
      <origin xyz="0.117011 -0.13635 0.154336" rpy="0.99 0 0"/>
      <geometry>
        <box size="0.049057 0.005283 0.169811"/>
      </geometry>
    </collision>
    <visual>
      <origin xyz="0.083111 -0.31378 0.182934" rpy="0 -0.076371 1.570798"/>
      <geometry>
        <box size="0.044 0.008 0.0387"/>
      </geometry>
    </visual>
    <collision>
      <origin xyz="0.083111 -0.31378 0.182934" rpy="0 -0.076371 1.570798"/>
      <geometry>
        <box size="0.044 0.008 0.0387"/>
      </geometry>
    </collision>
  </link>
  <joint name="front right elbow motor" type="revolute">
    <parent link="front right upperarm"/>
    <child link="front right forearm"/>
    <axis xyz="1 0 0"/>
    <limit effort="50" lower="-0.45" upper="1.6" velocity="10"/>
    <origin xyz="0.1122 -0.319729 0.182338" rpy="0 0 0"/>
  </joint>
  <link name="front right forearm">
    <visual>
      <origin xyz="0.001038 -0.271321 -0.225038" rpy="-1.5708 0 1.570801"/>
      <geometry>
        <cylinder radius="0.035094" length="0.039623"/>
      </geometry>
    </visual>
    <collision>
      <origin xyz="0.001038 -0.271321 -0.225038" rpy="-1.5708 0 1.570801"/>
      <geometry>
        <cylinder radius="0.035094" length="0.039623"/>
      </geometry>
    </collision>
    <visual>
      <origin xyz="0.001038 -0.227421 -0.230239" rpy="-0.947675 0 0"/>
      <geometry>
        <box size="0.037736 0.006038 0.041509"/>
      </geometry>
    </visual>
    <collision>
      <origin xyz="0.001038 -0.227421 -0.230239" rpy="-0.947675 0 0"/>
      <geometry>
        <box size="0.037736 0.006038 0.041509"/>
      </geometry>
    </collision>
    <visual>
      <origin xyz="0.001038 -0.232272 -0.198255" rpy="-0.093185 0 0"/>
      <geometry>
        <box size="0.037736 0.045283 0.006792"/>
      </geometry>
    </visual>
    <collision>
      <origin xyz="0.001038 -0.232272 -0.198255" rpy="-0.093185 0 0"/>
      <geometry>
        <box size="0.037736 0.045283 0.006792"/>
      </geometry>
    </collision>
    <visual>
      <origin xyz="0.001038 -0.205751 -0.206348" rpy="0.616815 0 0"/>
      <geometry>
        <box size="0.025283 0.022642 0.020755"/>
      </geometry>
    </visual>
    <collision>
      <origin xyz="0.001038 -0.205751 -0.206348" rpy="0.616815 0 0"/>
      <geometry>
        <box size="0.025283 0.022642 0.020755"/>
      </geometry>
    </collision>
    <visual>
      <origin xyz="0.001038 -0.168611 -0.18111" rpy="-2.513185 0 0"/>
      <geometry>
        <box size="0.019245 0.071698 0.017358"/>
      </geometry>
    </visual>
    <collision>
      <origin xyz="0.001038 -0.168611 -0.18111" rpy="-2.513185 0 0"/>
      <geometry>
        <box size="0.019245 0.071698 0.017358"/>
      </geometry>
    </collision>
    <visual>
      <origin xyz="0.001038 -0.125111 -0.148236" rpy="0.663625 0 0"/>
      <geometry>
        <box size="0.021887 0.037736 0.018491"/>
      </geometry>
    </visual>
    <collision>
      <origin xyz="0.001038 -0.125111 -0.148236" rpy="0.663625 0 0"/>
      <geometry>
        <box size="0.021887 0.037736 0.018491"/>
      </geometry>
    </collision>
    <visual>
      <origin xyz="0.001038 -0.100861 -0.126163" rpy="0.760415 0 0"/>
      <geometry>
        <box size="0.026415 0.030189 0.021132"/>
      </geometry>
    </visual>
    <collision>
      <origin xyz="0.001038 -0.100861 -0.126163" rpy="0.760415 0 0"/>
      <geometry>
        <box size="0.026415 0.030189 0.021132"/>
      </geometry>
    </collision>
    <visual>
      <origin xyz="0.001038 -0.084241 -0.106843" rpy="0.867225 0 0"/>
      <geometry>
        <box size="0.032453 0.022642 0.024528"/>
      </geometry>
    </visual>
    <collision>
      <origin xyz="0.001038 -0.084241 -0.106843" rpy="0.867225 0 0"/>
      <geometry>
        <box size="0.032453 0.022642 0.024528"/>
      </geometry>
    </collision>
    <visual>
      <origin xyz="0.001038 -0.068551 -0.08661" rpy="0.907225 0 0"/>
      <geometry>
        <box size="0.037736 0.033962 0.026415"/>
      </geometry>
    </visual>
    <collision>
      <origin xyz="0.001038 -0.068551 -0.08661" rpy="0.907225 0 0"/>
      <geometry>
        <box size="0.037736 0.033962 0.026415"/>
      </geometry>
    </collision>
    <visual>
      <origin xyz="0.001038 -0.049721 -0.059227" rpy="0.933245 0 0"/>
      <geometry>
        <cylinder radius="0.024528" length="0.030566"/>
      </geometry>
    </visual>
    <collision>
      <origin xyz="0.001038 -0.049721 -0.059227" rpy="0.933245 0 0"/>
      <geometry>
        <cylinder radius="0.024528" length="0.030566"/>
      </geometry>
    </collision>
    <visual>
      <origin xyz="0.001038 -0.034991 -0.038166" rpy="0.937225 0 0"/>
      <geometry>
        <box size="0.038113 0.022642 0.032075"/>
      </geometry>
    </visual>
    <collision>
      <origin xyz="0.001038 -0.034991 -0.038166" rpy="0.937225 0 0"/>
      <geometry>
        <box size="0.038113 0.022642 0.032075"/>
      </geometry>
    </collision>
    <visual>
      <origin xyz="0.001038 -0.022931 -0.021744" rpy="0.937225 0 0"/>
      <geometry>
        <box size="0.031321 0.018868 0.03283"/>
      </geometry>
    </visual>
    <collision>
      <origin xyz="0.001038 -0.022931 -0.021744" rpy="0.937225 0 0"/>
      <geometry>
        <box size="0.031321 0.018868 0.03283"/>
      </geometry>
    </collision>
    <visual>
      <origin xyz="0.001038 -0.010711 -0.006332" rpy="0.834035 0 0"/>
      <geometry>
        <box size="0.027925 0.018868 0.03283"/>
      </geometry>
    </visual>
    <collision>
      <origin xyz="0.001038 -0.010711 -0.006332" rpy="0.834035 0 0"/>
      <geometry>
        <box size="0.027925 0.018868 0.03283"/>
      </geometry>
    </collision>
    <visual>
      <origin xyz="0.001038 0.004299 0.006862" rpy="0.680845 0 0"/>
      <geometry>
        <box size="0.027547 0.018868 0.034717"/>
      </geometry>
    </visual>
    <collision>
      <origin xyz="0.001038 0.004299 0.006862" rpy="0.680845 0 0"/>
      <geometry>
        <box size="0.027547 0.018868 0.034717"/>
      </geometry>
    </collision>
    <visual>
      <origin xyz="0.001038 0.021259 0.019851" rpy="0.604465 0 0"/>
      <geometry>
        <box size="0.020377 0.026415 0.03434"/>
      </geometry>
    </visual>
    <collision>
      <origin xyz="0.001038 0.021259 0.019851" rpy="0.604465 0 0"/>
      <geometry>
        <box size="0.020377 0.026415 0.03434"/>
      </geometry>
    </collision>
    <visual>
      <origin xyz="0.001038 0.019179 -0.009531" rpy="0.494895 0 0"/>
      <geometry>
        <box size="0.010189 0.05283 0.00717"/>
      </geometry>
    </visual>
    <collision>
      <origin xyz="0.001038 0.019179 -0.009531" rpy="0.494895 0 0"/>
      <geometry>
        <box size="0.010189 0.05283 0.00717"/>
      </geometry>
    </collision>
    <visual>
      <origin xyz="0.001038 0.037459 0.024742" rpy="-1.5708 0 1.5708"/>
      <geometry>
        <cylinder radius="0.021887" length="0.019736"/>
      </geometry>
    </visual>
    <collision>
      <origin xyz="0.001038 0.037459 0.024742" rpy="-1.5708 0 1.5708"/>
      <geometry>
        <cylinder radius="0.021887" length="0.019736"/>
      </geometry>
    </collision>
  </link>
  <link name="front right touch sensor">
  </link>
  <joint name="front right forearm_front right touch sensor_joint" type="fixed">
    <parent link="front right forearm"/>
    <child link="front right touch sensor"/>
    <origin xyz="0.001038 -0.271321 -0.225038" rpy="-1.5708 0 1.570801"/>
  </joint>
  <joint name="front right piston motor" type="continuous">
    <parent link="front right upperarm"/>
    <child link="solid_2"/>
    <axis xyz="1 0 0"/>
    <limit effort="10" velocity="10"/>
    <origin xyz="0.1172 -0.29077 0.2083" rpy="-0.5236 0 0"/>
  </joint>
  <link name="solid_2">
  </link>
  <joint name="front left shoulder abduction motor" type="revolute">
    <parent link="base_link"/>
    <child link="front left shoulder"/>
    <axis xyz="0 0 1"/>
    <limit effort="50" lower="-0.6" upper="0.5" velocity="10"/>
    <origin xyz="0.3635 0.0528 0.012399" rpy="1.5708 -0.00001 -1.570793"/>
  </joint>
  <link name="front left shoulder">
    <visual>
      <origin xyz="0.004874 0.000873 -0.000643" rpy="0 0 0"/>
      <geometry>
        <box size="0.086792 0.124528 0.120755"/>
      </geometry>
    </visual>
    <collision>
      <origin xyz="0.004874 0.000873 -0.000643" rpy="0 0 0"/>
      <geometry>
        <box size="0.086792 0.124528 0.120755"/>
      </geometry>
    </collision>
    <visual>
      <origin xyz="-0.006447 0.000873 -0.000643" rpy="0 0 0"/>
      <geometry>
        <box size="0.098113 0.098113 0.098113"/>
      </geometry>
    </visual>
    <collision>
      <origin xyz="-0.006447 0.000873 -0.000643" rpy="0 0 0"/>
      <geometry>
        <box size="0.098113 0.098113 0.098113"/>
      </geometry>
    </collision>
    <visual>
      <origin xyz="-0.058145 0.000873 -0.000643" rpy="-1.5708 0 1.5708"/>
      <geometry>
        <cylinder radius="0.047925" length="0.006038"/>
      </geometry>
    </visual>
    <collision>
      <origin xyz="-0.058145 0.000873 -0.000643" rpy="-1.5708 0 1.5708"/>
      <geometry>
        <cylinder radius="0.047925" length="0.006038"/>
      </geometry>
    </collision>
  </link>
  <joint name="front left shoulder rotation motor" type="revolute">
    <parent link="front left shoulder"/>
    <child link="front left upperarm"/>
    <axis xyz="1 0 0"/>
    <limit effort="50" lower="-1.7" upper="1.7" velocity="10"/>
    <origin xyz="0 -0.00053 0" rpy="0 0 0"/>
  </joint>
  <link name="front left upperarm">
    <visual>
      <origin xyz="-0.117011 -0.32073 0.1829" rpy="-1.5708 0 1.5708"/>
      <geometry>
        <cylinder radius="0.02717" length="0.060377"/>
      </geometry>
    </visual>
    <collision>
      <origin xyz="-0.117011 -0.32073 0.1829" rpy="-1.5708 0 1.5708"/>
      <geometry>
        <cylinder radius="0.02717" length="0.060377"/>
      </geometry>
    </collision>
    <visual>
      <origin xyz="-0.117011 -0.25867 0.180358" rpy="0 0.05 1.570795"/>
      <geometry>
        <box size="0.09434 0.060377 0.053208"/>
      </geometry>
    </visual>
    <collision>
      <origin xyz="-0.117011 -0.25867 0.180358" rpy="0 0.05 1.570795"/>
      <geometry>
        <box size="0.09434 0.060377 0.053208"/>
      </geometry>
    </collision>
    <visual>
      <origin xyz="-0.149087 -0.023654 0.007772" rpy="-0.656375 0 0"/>
      <geometry>
        <box size="0.016226 0.177358 0.071698"/>
      </geometry>
    </visual>
    <collision>
      <origin xyz="-0.149087 -0.023654 0.007772" rpy="-0.656375 0 0"/>
      <geometry>
        <box size="0.016226 0.177358 0.071698"/>
      </geometry>
    </collision>
    <visual>
      <origin xyz="-0.14944 -0.001095 0.048195" rpy="-0.688653 0.282831 -0.225783"/>
      <geometry>
        <box size="0.004528 0.173585 0.015094"/>
      </geometry>
    </visual>
    <collision>
      <origin xyz="-0.14944 -0.001095 0.048195" rpy="-0.688653 0.282831 -0.225783"/>
      <geometry>
        <box size="0.004528 0.173585 0.015094"/>
      </geometry>
    </collision>
    <visual>
      <origin xyz="-0.143963 -0.142325 0.149419" rpy="-0.689784 0.390399 -0.237371"/>
      <geometry>
        <box size="0.004528 0.173585 0.015094"/>
      </geometry>
    </visual>
    <collision>
      <origin xyz="-0.143963 -0.142325 0.149419" rpy="-0.689784 0.390399 -0.237371"/>
      <geometry>
        <box size="0.004528 0.173585 0.015094"/>
      </geometry>
    </collision>
    <visual>
      <origin xyz="-0.143376 -0.16295 0.113632" rpy="-0.64577 0.030504 0.039623"/>
      <geometry>
        <box size="0.016226 0.173585 0.071698"/>
      </geometry>
    </visual>
    <collision>
      <origin xyz="-0.143376 -0.16295 0.113632" rpy="-0.64577 0.030504 0.039623"/>
      <geometry>
        <box size="0.016226 0.173585 0.071698"/>
      </geometry>
    </collision>
    <visual>
      <origin xyz="-0.113992 -0.21476 0.154045" rpy="-0.656375 0 0"/>
      <geometry>
        <box size="0.054717 0.098113 0.064151"/>
      </geometry>
    </visual>
    <collision>
      <origin xyz="-0.113992 -0.21476 0.154045" rpy="-0.656375 0 0"/>
      <geometry>
        <box size="0.054717 0.098113 0.064151"/>
      </geometry>
    </collision>
    <visual>
      <origin xyz="-0.113238 -0.119427 0.086296" rpy="-2.227175 0 0"/>
      <geometry>
        <cylinder radius="0.028679" length="0.150943"/>
      </geometry>
    </visual>
    <collision>
      <origin xyz="-0.113238 -0.119427 0.086296" rpy="-2.227175 0 0"/>
      <geometry>
        <cylinder radius="0.028679" length="0.150943"/>
      </geometry>
    </collision>
    <visual>
      <origin xyz="-0.113238 -0.04459 0.028636" rpy="-2.227175 0 0"/>
      <geometry>
        <cylinder radius="0.037736" length="0.041509"/>
      </geometry>
    </visual>
    <collision>
      <origin xyz="-0.113238 -0.04459 0.028636" rpy="-2.227175 0 0"/>
      <geometry>
        <cylinder radius="0.037736" length="0.041509"/>
      </geometry>
    </collision>
    <visual>
      <origin xyz="-0.113738 -0.02284 -0.046726" rpy="-0.656375 0 0"/>
      <geometry>
        <box size="0.061509 0.069811 0.011321"/>
      </geometry>
    </visual>
    <collision>
      <origin xyz="-0.113738 -0.02284 -0.046726" rpy="-0.656375 0 0"/>
      <geometry>
        <box size="0.061509 0.069811 0.011321"/>
      </geometry>
    </collision>
    <visual>
      <origin xyz="-0.073615 -0.00019 -0.000689" rpy="-1.5708 0 1.5708"/>
      <geometry>
        <cylinder radius="0.04" length="0.037736"/>
      </geometry>
    </visual>
    <collision>
      <origin xyz="-0.073615 -0.00019 -0.000689" rpy="-1.5708 0 1.5708"/>
      <geometry>
        <cylinder radius="0.04" length="0.037736"/>
      </geometry>
    </collision>
    <visual>
      <origin xyz="-0.115879 0.008331 -0.011344" rpy="-2.227175 0 0"/>
      <geometry>
        <cylinder radius="0.033962" length="0.086792"/>
      </geometry>
    </visual>
    <collision>
      <origin xyz="-0.115879 0.008331 -0.011344" rpy="-2.227175 0 0"/>
      <geometry>
        <cylinder radius="0.033962" length="0.086792"/>
      </geometry>
    </collision>
    <visual>
      <origin xyz="-0.12154 0.053961 -0.047932" rpy="-0.656375 0 0"/>
      <geometry>
        <box size="0.064151 0.003774 0.071698"/>
      </geometry>
    </visual>
    <collision>
      <origin xyz="-0.12154 0.053961 -0.047932" rpy="-0.656375 0 0"/>
      <geometry>
        <box size="0.064151 0.003774 0.071698"/>
      </geometry>
    </collision>
    <visual>
      <origin xyz="-0.12003 0.073308 -0.006499" rpy="0.013625 0 0"/>
      <geometry>
        <box size="0.060377 0.007547 0.022642"/>
      </geometry>
    </visual>
    <collision>
      <origin xyz="-0.12003 0.073308 -0.006499" rpy="0.013625 0 0"/>
      <geometry>
        <box size="0.060377 0.007547 0.022642"/>
      </geometry>
    </collision>
    <visual>
      <origin xyz="-0.117011 -0.13635 0.154336" rpy="0.99 0 0"/>
      <geometry>
        <box size="0.049057 0.005283 0.169811"/>
      </geometry>
    </visual>
    <collision>
      <origin xyz="-0.117011 -0.13635 0.154336" rpy="0.99 0 0"/>
      <geometry>
        <box size="0.049057 0.005283 0.169811"/>
      </geometry>
    </collision>
    <visual>
      <origin xyz="-0.083111 -0.31378 0.182934" rpy="0 -0.076371 1.570798"/>
      <geometry>
        <box size="0.044 0.008 0.0387"/>
      </geometry>
    </visual>
    <collision>
      <origin xyz="-0.083111 -0.31378 0.182934" rpy="0 -0.076371 1.570798"/>
      <geometry>
        <box size="0.044 0.008 0.0387"/>
      </geometry>
    </collision>
  </link>
  <joint name="front left elbow motor" type="revolute">
    <parent link="front left upperarm"/>
    <child link="front left forearm"/>
    <axis xyz="1 0 0"/>
    <limit effort="50" lower="-0.45" upper="1.6" velocity="10"/>
    <origin xyz="-0.1122 -0.319729 0.182338" rpy="0 0 0"/>
  </joint>
  <link name="front left forearm">
    <visual>
      <origin xyz="-0.001038 -0.271321 -0.225038" rpy="-1.5708 0 1.570801"/>
      <geometry>
        <cylinder radius="0.035094" length="0.039623"/>
      </geometry>
    </visual>
    <collision>
      <origin xyz="-0.001038 -0.271321 -0.225038" rpy="-1.5708 0 1.570801"/>
      <geometry>
        <cylinder radius="0.035094" length="0.039623"/>
      </geometry>
    </collision>
    <visual>
      <origin xyz="-0.001038 -0.227421 -0.230239" rpy="-0.947675 0 0"/>
      <geometry>
        <box size="0.037736 0.006038 0.041509"/>
      </geometry>
    </visual>
    <collision>
      <origin xyz="-0.001038 -0.227421 -0.230239" rpy="-0.947675 0 0"/>
      <geometry>
        <box size="0.037736 0.006038 0.041509"/>
      </geometry>
    </collision>
    <visual>
      <origin xyz="-0.001038 -0.232272 -0.198255" rpy="-0.093185 0 0"/>
      <geometry>
        <box size="0.037736 0.045283 0.006792"/>
      </geometry>
    </visual>
    <collision>
      <origin xyz="-0.001038 -0.232272 -0.198255" rpy="-0.093185 0 0"/>
      <geometry>
        <box size="0.037736 0.045283 0.006792"/>
      </geometry>
    </collision>
    <visual>
      <origin xyz="-0.001038 -0.205751 -0.206348" rpy="0.616815 0 0"/>
      <geometry>
        <box size="0.025283 0.022642 0.020755"/>
      </geometry>
    </visual>
    <collision>
      <origin xyz="-0.001038 -0.205751 -0.206348" rpy="0.616815 0 0"/>
      <geometry>
        <box size="0.025283 0.022642 0.020755"/>
      </geometry>
    </collision>
    <visual>
      <origin xyz="-0.001038 -0.168611 -0.18111" rpy="-2.513185 0 0"/>
      <geometry>
        <box size="0.019245 0.071698 0.017358"/>
      </geometry>
    </visual>
    <collision>
      <origin xyz="-0.001038 -0.168611 -0.18111" rpy="-2.513185 0 0"/>
      <geometry>
        <box size="0.019245 0.071698 0.017358"/>
      </geometry>
    </collision>
    <visual>
      <origin xyz="-0.001038 -0.125111 -0.148236" rpy="0.663625 0 0"/>
      <geometry>
        <box size="0.021887 0.037736 0.018491"/>
      </geometry>
    </visual>
    <collision>
      <origin xyz="-0.001038 -0.125111 -0.148236" rpy="0.663625 0 0"/>
      <geometry>
        <box size="0.021887 0.037736 0.018491"/>
      </geometry>
    </collision>
    <visual>
      <origin xyz="-0.001038 -0.100861 -0.126163" rpy="0.760415 0 0"/>
      <geometry>
        <box size="0.026415 0.030189 0.021132"/>
      </geometry>
    </visual>
    <collision>
      <origin xyz="-0.001038 -0.100861 -0.126163" rpy="0.760415 0 0"/>
      <geometry>
        <box size="0.026415 0.030189 0.021132"/>
      </geometry>
    </collision>
    <visual>
      <origin xyz="-0.001038 -0.084241 -0.106843" rpy="0.867225 0 0"/>
      <geometry>
        <box size="0.032453 0.022642 0.024528"/>
      </geometry>
    </visual>
    <collision>
      <origin xyz="-0.001038 -0.084241 -0.106843" rpy="0.867225 0 0"/>
      <geometry>
        <box size="0.032453 0.022642 0.024528"/>
      </geometry>
    </collision>
    <visual>
      <origin xyz="-0.001038 -0.068551 -0.08661" rpy="0.907225 0 0"/>
      <geometry>
        <box size="0.037736 0.033962 0.026415"/>
      </geometry>
    </visual>
    <collision>
      <origin xyz="-0.001038 -0.068551 -0.08661" rpy="0.907225 0 0"/>
      <geometry>
        <box size="0.037736 0.033962 0.026415"/>
      </geometry>
    </collision>
    <visual>
      <origin xyz="-0.001038 -0.049721 -0.059227" rpy="0.933245 0 0"/>
      <geometry>
        <cylinder radius="0.024528" length="0.030566"/>
      </geometry>
    </visual>
    <collision>
      <origin xyz="-0.001038 -0.049721 -0.059227" rpy="0.933245 0 0"/>
      <geometry>
        <cylinder radius="0.024528" length="0.030566"/>
      </geometry>
    </collision>
    <visual>
      <origin xyz="-0.001038 -0.034991 -0.038166" rpy="0.937225 0 0"/>
      <geometry>
        <box size="0.038113 0.022642 0.032075"/>
      </geometry>
    </visual>
    <collision>
      <origin xyz="-0.001038 -0.034991 -0.038166" rpy="0.937225 0 0"/>
      <geometry>
        <box size="0.038113 0.022642 0.032075"/>
      </geometry>
    </collision>
    <visual>
      <origin xyz="-0.001038 -0.022931 -0.021744" rpy="0.937225 0 0"/>
      <geometry>
        <box size="0.031321 0.018868 0.03283"/>
      </geometry>
    </visual>
    <collision>
      <origin xyz="-0.001038 -0.022931 -0.021744" rpy="0.937225 0 0"/>
      <geometry>
        <box size="0.031321 0.018868 0.03283"/>
      </geometry>
    </collision>
    <visual>
      <origin xyz="-0.001038 -0.010711 -0.006332" rpy="0.834035 0 0"/>
      <geometry>
        <box size="0.027925 0.018868 0.03283"/>
      </geometry>
    </visual>
    <collision>
      <origin xyz="-0.001038 -0.010711 -0.006332" rpy="0.834035 0 0"/>
      <geometry>
        <box size="0.027925 0.018868 0.03283"/>
      </geometry>
    </collision>
    <visual>
      <origin xyz="-0.001038 0.004299 0.006862" rpy="0.680845 0 0"/>
      <geometry>
        <box size="0.027547 0.018868 0.034717"/>
      </geometry>
    </visual>
    <collision>
      <origin xyz="-0.001038 0.004299 0.006862" rpy="0.680845 0 0"/>
      <geometry>
        <box size="0.027547 0.018868 0.034717"/>
      </geometry>
    </collision>
    <visual>
      <origin xyz="-0.001038 0.021259 0.019851" rpy="0.604465 0 0"/>
      <geometry>
        <box size="0.020377 0.026415 0.03434"/>
      </geometry>
    </visual>
    <collision>
      <origin xyz="-0.001038 0.021259 0.019851" rpy="0.604465 0 0"/>
      <geometry>
        <box size="0.020377 0.026415 0.03434"/>
      </geometry>
    </collision>
    <visual>
      <origin xyz="-0.001038 0.019179 -0.009531" rpy="0.494895 0 0"/>
      <geometry>
        <box size="0.010189 0.05283 0.00717"/>
      </geometry>
    </visual>
    <collision>
      <origin xyz="-0.001038 0.019179 -0.009531" rpy="0.494895 0 0"/>
      <geometry>
        <box size="0.010189 0.05283 0.00717"/>
      </geometry>
    </collision>
    <visual>
      <origin xyz="-0.001038 0.037459 0.024742" rpy="-1.5708 0 1.5708"/>
      <geometry>
        <cylinder radius="0.021887" length="0.019736"/>
      </geometry>
    </visual>
    <collision>
      <origin xyz="-0.001038 0.037459 0.024742" rpy="-1.5708 0 1.5708"/>
      <geometry>
        <cylinder radius="0.021887" length="0.019736"/>
      </geometry>
    </collision>
  </link>
  <link name="front left touch sensor">
  </link>
  <joint name="front left forearm_front left touch sensor_joint" type="fixed">
    <parent link="front left forearm"/>
    <child link="front left touch sensor"/>
    <origin xyz="0.001038 -0.271321 -0.225038" rpy="-1.5708 0 1.570801"/>
  </joint>
  <joint name="front left piston motor" type="continuous">
    <parent link="front left upperarm"/>
    <child link="solid_3"/>
    <axis xyz="1 0 0"/>
    <limit effort="10" velocity="10"/>
    <origin xyz="-0.1172 -0.29077 0.2083" rpy="-0.5236 0 0"/>
  </joint>
  <link name="solid_3">
  </link>
  <link name="rear depth">
  </link>
  <joint name="base_link_rear depth_joint" type="fixed">
    <parent link="base_link"/>
    <child link="rear depth"/>
    <origin xyz="-0.448136 -0.018115 0.012558" rpy="0.000015 0.474984 -3.141579"/>
  </joint>
  <link name="rear camera">
  </link>
  <joint name="base_link_rear camera_joint" type="fixed">
    <parent link="base_link"/>
    <child link="rear camera"/>
    <origin xyz="-0.448136 -0.018115 0.012558" rpy="-1.570781 0.474984 -4.712375"/>
  </joint>
  <link name="left flank depth">
  </link>
  <joint name="base_link_left flank depth_joint" type="fixed">
    <parent link="base_link"/>
    <child link="left flank depth"/>
    <origin xyz="-0.13568 0.110127 0.065528" rpy="-0.000003 0.403191 1.570802"/>
  </joint>
  <link name="left flank camera">
  </link>
  <joint name="base_link_left flank camera_joint" type="fixed">
    <parent link="base_link"/>
    <child link="left flank camera"/>
    <origin xyz="-0.13568 0.110127 0.065528" rpy="-1.570799 0.403191 0.000005"/>
  </joint>
  <link name="right flank depth">
  </link>
  <joint name="base_link_right flank depth_joint" type="fixed">
    <parent link="base_link"/>
    <child link="right flank depth"/>
    <origin xyz="-0.135678 -0.110163 0.06561" rpy="0.000005 0.413171 -1.570794"/>
  </joint>
  <link name="right flank camera">
  </link>
  <joint name="base_link_right flank camera_joint" type="fixed">
    <parent link="base_link"/>
    <child link="right flank camera"/>
    <origin xyz="-0.135678 -0.110163 0.06561" rpy="-1.570791 0.413171 -3.141591"/>
  </joint>
  <link name="left head depth">
  </link>
  <joint name="base_link_left head depth_joint" type="fixed">
    <parent link="base_link"/>
    <child link="left head depth"/>
    <origin xyz="0.46325 0.045111 0.029551" rpy="-0.158862 0.433786 -0.408004"/>
  </joint>
  <link name="left head camera">
  </link>
  <joint name="base_link_left head camera_joint" type="fixed">
    <parent link="base_link"/>
    <child link="left head camera"/>
    <origin xyz="0.46325 0.045111 0.029551" rpy="-1.729658 0.433786 -1.9788"/>
  </joint>
  <link name="right head depth">
  </link>
  <joint name="base_link_right head depth_joint" type="fixed">
    <parent link="base_link"/>
    <child link="right head depth"/>
    <origin xyz="0.462603 -0.044896 0.027972" rpy="0.193959 0.3931 0.409605"/>
  </joint>
  <link name="right head camera">
  </link>
  <joint name="base_link_right head camera_joint" type="fixed">
    <parent link="base_link"/>
    <child link="right head camera"/>
    <origin xyz="0.462603 -0.044896 0.027972" rpy="-1.376837 0.3931 -1.161192"/>
  </joint>
  <link name="left bottom led">
  </link>
  <joint name="base_link_left bottom led_joint" type="fixed">
    <parent link="base_link"/>
    <child link="left bottom led"/>
    <origin xyz="0.481728 0.081967 0.001191" rpy="1.873112 0.329178 0.767486"/>
  </joint>
  <link name="right bottom led">
  </link>
  <joint name="base_link_right bottom led_joint" type="fixed">
    <parent link="base_link"/>
    <child link="right bottom led"/>
    <origin xyz="0.481728 -0.081963 0.001193" rpy="1.279539 0.338923 -0.733718"/>
  </joint>
  <link name="right middle down led">
  </link>
  <joint name="base_link_right middle down led_joint" type="fixed">
    <parent link="base_link"/>
    <child link="right middle down led"/>
    <origin xyz="0.489879 -0.081963 0.018293" rpy="1.279539 0.338923 -0.733718"/>
  </joint>
  <link name="right middle up led">
  </link>
  <joint name="base_link_right middle up led_joint" type="fixed">
    <parent link="base_link"/>
    <child link="right middle up led"/>
    <origin xyz="0.497601 -0.081963 0.034493" rpy="1.279539 0.338923 -0.733718"/>
  </joint>
  <link name="right top led">
  </link>
  <joint name="base_link_right top led_joint" type="fixed">
    <parent link="base_link"/>
    <child link="right top led"/>
    <origin xyz="0.505323 -0.081963 0.050723" rpy="1.279539 0.338923 -0.733718"/>
  </joint>
  <link name="left middle down led">
  </link>
  <joint name="base_link_left middle down led_joint" type="fixed">
    <parent link="base_link"/>
    <child link="left middle down led"/>
    <origin xyz="0.489879 0.081966 0.018291" rpy="1.873112 0.329178 0.767486"/>
  </joint>
  <link name="left middle up led">
  </link>
  <joint name="base_link_left middle up led_joint" type="fixed">
    <parent link="base_link"/>
    <child link="left middle up led"/>
    <origin xyz="0.497601 0.081967 0.034491" rpy="1.873112 0.329178 0.767486"/>
  </joint>
  <link name="left top led">
  </link>
  <joint name="base_link_left top led_joint" type="fixed">
    <parent link="base_link"/>
    <child link="left top led"/>
    <origin xyz="0.505323 0.081967 0.050721" rpy="1.873112 0.329178 0.767486"/>
  </joint>
  <link name="inertial unit">
  </link>
  <joint name="base_link_inertial unit_joint" type="fixed">
    <parent link="base_link"/>
    <child link="inertial unit"/>
    <origin xyz="0 0 0" rpy="0 0 0"/>
  </joint>
  <link name="gyro">
  </link>
  <joint name="base_link_gyro_joint" type="fixed">
    <parent link="base_link"/>
    <child link="gyro"/>
    <origin xyz="0 0 0" rpy="0 0 0"/>
  </joint>
  <link name="gps">
  </link>
  <joint name="base_link_gps_joint" type="fixed">
    <parent link="base_link"/>
    <child link="gps"/>
    <origin xyz="0 0 0" rpy="0 0 0"/>
  </joint>
  <link name="accelerometer">
  </link>
  <joint name="base_link_accelerometer_joint" type="fixed">
    <parent link="base_link"/>
    <child link="accelerometer"/>
    <origin xyz="0 0 0" rpy="0 0 0"/>
  </joint>
</robot>
